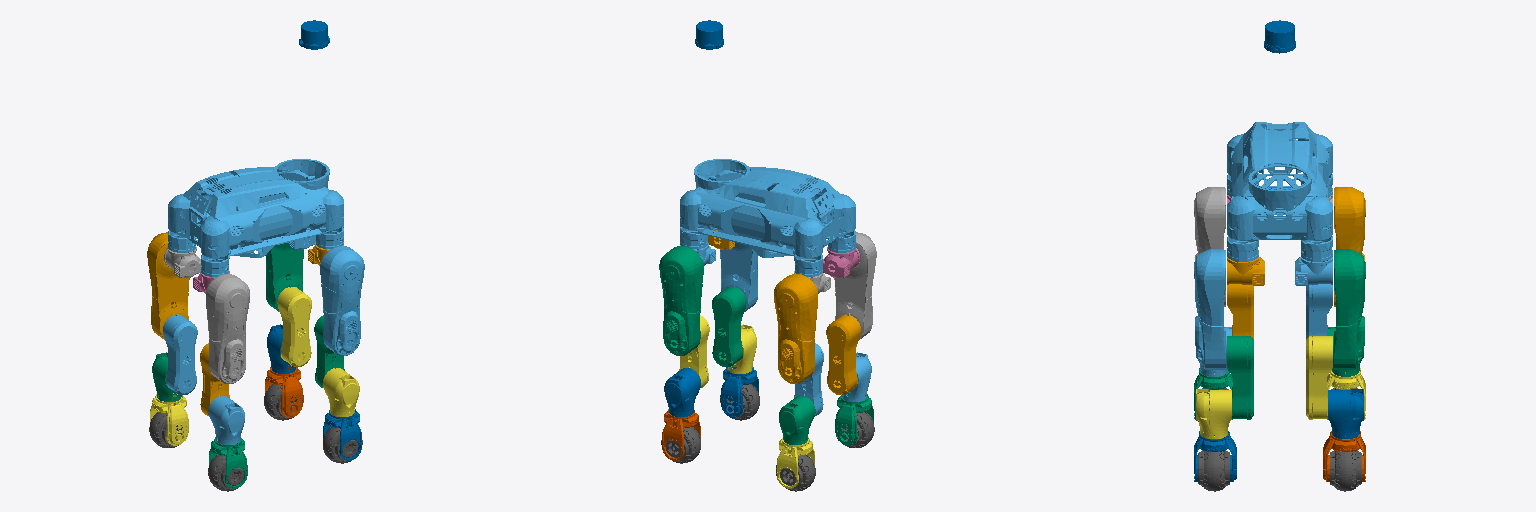
--- What the picture shows (computed from the rendered views, not written in the file) ---
The picture shows the robot from 3 angles, left to right: view 1: azimuth 30°, elevation 25°; view 2: azimuth 150°, elevation 25°; view 3: azimuth 270°, elevation 25°; orthographic projection.
Model centauro with 76 links and 75 joints (40 revolute, 5 continuous, 3 prismatic, 26 fixed, 1 floating), rooted at world, posed all joints at 0 but 2 set to mid-range because 0 is outside their limits (j_arm1_2 = 1.73, j_arm2_2 = -1.72).
Links seen in each view (by area): view 1: pelvis, hip2_4, hip2_2, hip2_3, knee_3, knee_1, hip2_1, ankle1_2, ankle1_4, ankle2_3, ankle2_1, ankle2_2 (+11 smaller); view 2: pelvis, hip2_3, hip2_1, hip2_4, knee_4, knee_2, hip2_2, ankle1_1, ankle1_3, ankle2_4, ankle2_2, ankle2_1 (+11 smaller); view 3: pelvis, hip2_1, hip2_2, knee_1, knee_2, hip2_3, hip2_4, ankle1_1, ankle1_2, knee_3, knee_4, wheel_1 (+8 smaller).
Link boxes in pixels (bbox=[...]): pelvis: bbox=[168, 159, 343, 276]; hip2_4: bbox=[206, 274, 249, 383]; hip2_2: bbox=[320, 246, 364, 355]; hip2_3: bbox=[147, 232, 189, 339]; knee_3: bbox=[163, 314, 197, 394]; knee_1: bbox=[277, 287, 311, 367]; hip2_1: bbox=[266, 243, 303, 311]; ankle1_2: bbox=[323, 368, 359, 416]; ankle1_4: bbox=[208, 396, 244, 444]; ankle2_3: bbox=[150, 393, 188, 445]; ankle2_1: bbox=[265, 365, 302, 417]; ankle2_2: bbox=[323, 409, 361, 460]; pelvis: bbox=[680, 159, 855, 276]; hip2_3: bbox=[774, 274, 817, 383]; hip2_1: bbox=[659, 246, 703, 355]; hip2_4: bbox=[834, 232, 876, 339]; knee_4: bbox=[826, 314, 860, 394]; knee_2: bbox=[712, 287, 746, 367]; hip2_2: bbox=[720, 243, 757, 311]; ankle1_1: bbox=[664, 368, 700, 416]; ankle1_3: bbox=[779, 396, 815, 444]; ankle2_4: bbox=[835, 393, 873, 445]; ankle2_2: bbox=[721, 365, 758, 417]; ankle2_1: bbox=[662, 409, 700, 460]; pelvis: bbox=[1227, 122, 1332, 261]; hip2_1: bbox=[1334, 249, 1365, 369]; hip2_2: bbox=[1194, 249, 1225, 369]; knee_1: bbox=[1306, 336, 1332, 419]; knee_2: bbox=[1227, 336, 1253, 419]; hip2_3: bbox=[1334, 187, 1365, 306]; hip2_4: bbox=[1194, 187, 1225, 306]; ankle1_1: bbox=[1328, 389, 1363, 438]; ankle1_2: bbox=[1196, 389, 1231, 438]; knee_3: bbox=[1306, 284, 1332, 338]; knee_4: bbox=[1227, 284, 1253, 338]; wheel_1: bbox=[1330, 450, 1361, 491].
Bounding box of the posed robot: 0.6554 × 0.5808 × 1.73 m (x, y, z).
26 mesh visuals loaded from 23 distinct referenced files (8 binary STL); not drawn: 23 (reference not matched to a file when rendering).

robot.urdf — centauro:
<?xml version="1.0" encoding="utf-8"?>
<!-- =================================================================================== -->
<!-- |    This document was autogenerated by xacro from centauro_robot.urdf.xacro      | -->
<!-- |    EDITING THIS FILE BY HAND IS NOT RECOMMENDED                                 | -->
<!-- =================================================================================== -->
<robot name="centauro">
  <!-- 
  ROS urdf definition of the CENTAURO humanoid robot by Istituto Italiano di Tecnologia
  
  Author: Enrico Mingo Hoffman
-->
  <!-- scaling facto for available peack torque link side, from 0 to 1 -->
  <material name="black">
    <color rgba="0.4 0.4 0.4 1"/>
  </material>
  <material name="dark">
    <color rgba="0.1 0.1 0.1 1"/>
  </material>
  <!-- TODO CHECK THIS VALUE -->
  <!-- ??? -->
  <!-- ??? -->
  <!-- Origin -->
  <!-- <xacro:property name="hip_yaw_lower" value="${[-2.827,-2.583, -2.583 ,-2.827]}"/>
<xacro:property name="hip_yaw_upper" value="${[ 2.583, 2.827,  2.827 , 2.583]}"/> -->
  <link name="base_link"/>
  <link name="pelvis">
    <inertial>
      <origin xyz="-0.0016320207 0.0026534004 0.079167428"/>
      <mass value="26.584529"/>
      <inertia ixx="0.39195477" ixy="0.024781259" ixz="0.017108607" iyy="1.0000709" iyz="0.0052627106" izz="1.0679989"/>
    </inertial>
    <visual>
      <origin rpy="0.0 0.0 0.0" xyz="0.0 0 0.0"/>
      <geometry>
        <mesh filename="package://centauro_urdf/meshes/v2/pelvis.stl" scale="0.001 0.001 0.001"/>
      </geometry>
    </visual>
    <collision>
      <origin rpy="0.0 0.0 0.0" xyz="0.0 0 0.0"/>
      <geometry>
        <mesh filename="package://centauro_urdf/meshes/simple/pelvis.stl" scale="0.001 0.001 0.001"/>
      </geometry>
    </collision>
  </link>
  <link name="imu_link"/>
  <joint name="imu_joint" type="fixed">
    <parent link="pelvis"/>
    <origin rpy="0.0 0.0 0.0" xyz="0.248316 0.0 0.015"/>
    <child link="imu_link"/>
  </joint>
  <joint name="base_joint" type="fixed">
    <parent link="pelvis"/>
    <child link="base_link"/>
    <origin rpy="0 0 0" xyz="0 0 0"/>
  </joint>
  <!-- torso links -->
  <link name="torso_2">
    <inertial>
      <origin xyz="-0.019497794 0.0045317835 0.13768283"/>
      <mass value="12.553731"/>
      <inertia ixx="0.063643392" ixy="8.939e-05" ixz="-0.00086873" iyy="0.02680235" iyz="-4.657e-05" izz="0.04743015"/>
    </inertial>
    <visual>
      <origin rpy="0.0 0.0 0.0" xyz="0.0 0 0.0"/>
      <geometry>
        <mesh filename="package://centauro_urdf/meshes/link1.stl" scale="0.001 0.001 0.001"/>
      </geometry>
    </visual>
    <collision>
      <origin rpy="0.0 0.0 0.0" xyz="0.0 0 0.0"/>
      <geometry>
        <mesh filename="package://centauro_urdf/meshes/simple/link1.stl" scale="0.001 0.001 0.001"/>
      </geometry>
    </collision>
  </link>
  <!-- /torso links -->
  <!-- torso joints -->
  <joint name="torso_yaw" type="revolute">
    <parent link="pelvis"/>
    <origin xyz="0.2 0.0 0.256"/>
    <child link="torso_2"/>
    <axis xyz="0 0 1"/>
    <limit effort="147" lower="-2.618" upper="2.618" velocity="5.7"/>
    <!-- TODO -->
  </joint>
  <!-- /torso joints -->
  <!-- /macro arms -->
  <!-- LINKS -->
  <!-- shoulder yaw-roll-->
  <link name="arm1_1">
    <inertial>
      <origin xyz="-0.0074457212 0.03410796 0.00010978102"/>
      <mass value="1.9628675"/>
      <inertia ixx="0.0053547717" ixy="0.00036428926" ixz="1.5089568e-05" iyy="0.0033923328" iyz="5.5692312e-05" izz="0.0068921413"/>
    </inertial>
    <visual>
      <origin rpy="0.0 0.0 0.0" xyz="0.0 0.0 0.0"/>
      <geometry>
        <mesh filename="package://centauro_urdf/meshes/ShoulderPitch.STL" scale="0.001 -0.001 0.001"/>
      </geometry>
      <material name="dark_grey"/>
    </visual>
    <collision>
      <origin rpy="0.0 0.0 0.0" xyz="0.0 0.0 0.0"/>
      <geometry>
        <mesh filename="package://centauro_urdf/meshes/simple/ShoulderPitch.STL" scale="0.001 -0.001 0.001"/>
      </geometry>
    </collision>
  </link>
  <!-- shoulder yaw-roll-->
  <!-- shoulder roll-pitch-->
  <link name="arm1_2">
    <inertial>
      <origin xyz="0.058142302 5.7450803e-05 -0.077477683"/>
      <mass value="1.8595811"/>
      <inertia ixx="0.013776643" ixy="3.7788675e-05" ixz="0.0037690171" iyy="0.015677464" iyz="-9.4893549e-06" izz="0.0046317657"/>
    </inertial>
    <visual>
      <origin rpy="0.0 0.0 0.0" xyz="0.0 0.0 0.0"/>
      <geometry>
        <mesh filename="package://centauro_urdf/meshes/ShoulderRoll.STL" scale="0.001 -0.001 0.001"/>
      </geometry>
    </visual>
    <collision>
      <origin rpy="0.0 0.0 0.0" xyz="0.0 0.0 0.0"/>
      <geometry>
        <mesh filename="package://centauro_urdf/meshes/simple/ShoulderRoll.STL" scale="0.001 -0.001 0.001"/>
      </geometry>
    </collision>
  </link>
  <!-- shoulder roll-pitch-->
  <!-- shoulder-elbow -->
  <link name="arm1_3">
    <inertial>
      <origin xyz="0.014625194 0.0008172672 -0.028333545"/>
      <mass value="1.6678109"/>
      <inertia ixx="0.0064480435" ixy="-0.00015639093" ixz="0.0012205359" iyy="0.0073372077" iyz="8.9941532e-05" izz="0.0036738448"/>
    </inertial>
    <visual>
      <origin rpy="0.0 0.0 0.0" xyz="0.0 0.0 0.0"/>
      <geometry>
        <mesh filename="package://centauro_urdf/meshes/ShoulderYaw.STL" scale="0.001 -0.001 0.001"/>
      </geometry>
      <material name="dark_grey"/>
    </visual>
    <collision>
      <origin rpy="0.0 0.0 0.0" xyz="0.0 0.0 0.0"/>
      <geometry>
        <mesh filename="package://centauro_urdf/meshes/simple/ShoulderYaw.STL" scale="0.001 -0.001 0.001"/>
      </geometry>
    </collision>
  </link>
  <!-- /shoulder-elbow -->
  <!-- elbow yaw-pitch -->
  <link name="arm1_4">
    <inertial>
      <origin xyz="-0.0076833067 -0.040302205 -0.043492779"/>
      <mass value="1.3157289"/>
      <inertia ixx="0.004330394" ixy="-0.00011737391" ixz="-0.00041923199" iyy="0.0038539919" iyz="-0.00079573038" izz="0.0017594689"/>
    </inertial>
    <visual>
      <origin rpy="0.0 0.0 0.0" xyz="0.0 0.0 0.0"/>
      <geometry>
        <mesh filename="package://centauro_urdf/meshes/Elbow.STL" scale="0.001 -0.001 0.001"/>
      </geometry>
    </visual>
    <collision>
      <origin rpy="0.0 0.0 0.0" xyz="0.0 0.0 0.0"/>
      <geometry>
        <mesh filename="package://centauro_urdf/meshes/simple/Elbow.STL" scale="0.001 -0.001 0.001"/>
      </geometry>
    </collision>
  </link>
  <!-- /elbow yaw-pitch -->
  <!-- elbow-wrist -->
  <link name="arm1_5">
    <inertial>
      <origin xyz="-0.00011079615 0.011590836 -0.07816026"/>
      <mass value="1.4908547"/>
      <inertia ixx="0.0085692128" ixy="1.7856252e-05" ixz="1.9379365e-05" iyy="0.0077454159" iyz="-0.00032860094" izz="0.0027441921"/>
    </inertial>
    <visual>
      <origin rpy="0.0 0.0 0.0" xyz="0.0 0.0 0.0"/>
      <geometry>
        <mesh filename="package://centauro_urdf/meshes/Forearm.STL" scale="0.001 -0.001 0.001"/>
      </geometry>
      <material name="dark_grey"/>
    </visual>
    <collision>
      <origin rpy="0.0 0.0 0.0" xyz="0.0 0.0 0.0"/>
      <geometry>
        <mesh filename="package://centauro_urdf/meshes/simple/Forearm.STL" scale="0.001 -0.001 0.001"/>
      </geometry>
    </collision>
  </link>
  <!-- /elbow-wrist -->
  <!-- wrist yaw-pitch -->
  <link name="arm1_6">
    <inertial>
      <origin xyz="-4.6502396e-06 -0.038014094 -0.069926878"/>
      <mass value="1.1263612"/>
      <inertia ixx="0.0051871784" ixy="2.724437e-05" ixz="2.2833496e-06" iyy="0.0048037789" iyz="-0.00072165653" izz="0.0012771388"/>
    </inertial>
    <visual>
      <origin rpy="0.0 0.0 0.0" xyz="0.0 0.0 0.0"/>
      <geometry>
        <mesh filename="package://centauro_urdf/meshes/ForearmPitch.STL" scale="0.001 -0.001 0.001"/>
      </geometry>
    </visual>
    <collision>
      <origin rpy="0.0 0.0 0.0" xyz="0.0 0.0 0.0"/>
      <geometry>
        <mesh filename="package://centauro_urdf/meshes/simple/ForearmPitch.STL" scale="0.001 -0.001 0.001"/>
      </geometry>
    </collision>
  </link>
  <!-- /wrist yaw-pitch -->
  <link name="arm1_7">
    <inertial>
      <origin xyz="0.0 0.0 0.03127057"/>
      <mass value="0.27966428"/>
      <inertia ixx="0.00014415192" ixy="9.8651826e-08" ixz="0" iyy="0.0001441701" iyz="0" izz="6.0500616e-05"/>
    </inertial>
    <visual>
      <origin rpy="0.0 0.0 0.0" xyz="0.0 0.0 0.0"/>
      <geometry>
        <mesh filename="package://centauro_urdf/meshes/ForearmYaw.STL" scale="0.001 -0.001 0.001"/>
      </geometry>
      <material name="dark_grey"/>
    </visual>
    <collision>
      <origin rpy="0.0 0.0 0.0" xyz="0.0 0.0 0.0"/>
      <geometry>
        <mesh filename="package://centauro_urdf/meshes/simple/ForearmYaw.STL" scale="0.001 -0.001 0.001"/>
      </geometry>
    </collision>
  </link>
  <!-- /LINKS -->
  <!-- JOINTS -->
  <!-- shoulder yaw -->
  <joint name="j_arm1_1" type="revolute">
    <parent link="torso_2"/>
    <child link="arm1_1"/>
    <origin rpy="0.174533 0.0 -0.5235988" xyz="0.0457475 0.169137 0.116626"/>
    <axis xyz="0 1 0"/>
    <limit effort="147.0" lower="-3.312" upper="1.615" velocity="3.86"/>
  </joint>
  <!-- /shoulder yaw -->
  <!-- shoulder roll -->
  <joint name="j_arm1_2" type="revolute">
    <parent link="arm1_1"/>
    <child link="arm1_2"/>
    <origin rpy="-0.1745327 0.0 0.0" xyz="-0.09015 0.062 0.0"/>
    <axis xyz="1 0 0"/>
    <limit effort="147.0" lower="0.02" upper="3.431" velocity="3.86"/>
  </joint>
  <!-- /shoulder roll -->
  <!-- shoulder pitch-->
  <joint name="j_arm1_3" type="revolute">
    <parent link="arm1_2"/>
    <child link="arm1_3"/>
    <origin xyz="0.09015 0.0 -0.21815"/>
    <axis xyz="0 0 1"/>
    <limit effort="147.0" lower="-2.552" upper="2.566" velocity="6.06"/>
  </joint>
  <!-- /shoulder pitch -->
  <!-- elbow yaw -->
  <joint name="j_arm1_4" type="revolute">
    <parent link="arm1_3"/>
    <child link="arm1_4"/>
    <origin xyz="0.045 0.05515 -0.074"/>
    <axis xyz="0 1 0"/>
    <limit effort="147.0" lower="-2.465" upper="0.28" velocity="6.06"/>
  </joint>
  <!-- /elbow yaw -->
  <!-- elbow pitch-->
  <joint name="j_arm1_5" type="revolute">
    <parent link="arm1_4"/>
    <child link="arm1_5"/>
    <origin xyz="-0.015 -0.05515 -0.095"/>
    <axis xyz="0 0 1"/>
    <limit effort="55.0" lower="-2.569" upper="2.562" velocity="11.72"/>
  </joint>
  <!-- /elbow pitch-->
  <!-- wrist yaw-->
  <joint name="j_arm1_6" type="revolute">
    <parent link="arm1_5"/>
    <child link="arm1_6"/>
    <origin xyz="0.0 0.049 -0.156"/>
    <axis xyz="0 1 0"/>
    <limit effort="55.0" lower="-1.529" upper="1.509" velocity="11.72"/>
  </joint>
  <!-- /wrist yaw-->
  <!-- wrist pitch-->
  <joint name="j_arm1_7" type="revolute">
    <parent link="arm1_6"/>
    <child link="arm1_7"/>
    <origin xyz="0.0 -0.049 -0.174"/>
    <axis xyz="0 0 1"/>
    <limit effort="28.32" lower="-2.565" upper="2.569" velocity="20.35"/>
  </joint>
  <!-- wrist pitch-->
  <!-- force-troque sensor -->
  <!-- end-effector -->
  <!-- wrist pitch-->
  <joint name="j_ft_1" type="fixed">
    <parent link="arm1_7"/>
    <child link="ft_arm1"/>
    <origin rpy="0.0 0.0 0.0" xyz="0.0 0.0 -0.0"/>
    <axis xyz="0 0 1"/>
    <limit effort="0" lower="0.0" upper="0.0" velocity="0"/>
  </joint>
  <!-- wrist pitch-->
  <link name="ft_arm1">
    <inertial>
      <origin xyz="8.2161929e-05 0.0026334189 -0.016465877"/>
      <mass value="0.37827821"/>
      <inertia ixx="0.00023321716" ixy="2.3681435e-06" ixz="-1.8039102e-06" iyy="0.00020626291" iyz="3.158829e-05" izz="0.00027399881"/>
    </inertial>
    <!--visual>
         <origin xyz="0.0 0.0 0.0"  rpy="${PI} 0.0 0.0"/>
   <geometry>
      <mesh filename="package://centauro_urdf/meshes/Wrist.STL" scale="0.001 ${-rot*0.001} 0.001" />
   </geometry>
      </visual-->
    <!--collision>
         <origin xyz="0.0 0.0 0.0"  rpy="${PI} 0.0 0.0"/>
   <geometry>
      <mesh filename="package://centauro_urdf/meshes/simple/Wrist.STL" scale="0.001 ${-rot*0.001} 0.001" />
   </geometry>
      </collision-->
  </link>
  <!-- LINKS -->
  <!-- shoulder yaw-roll-->
  <link name="arm2_1">
    <inertial>
      <origin xyz="-0.0074457212 -0.03410796 0.00010978102"/>
      <mass value="1.9628675"/>
      <inertia ixx="0.0053547717" ixy="-0.00036428926" ixz="1.5089568e-05" iyy="0.0033923328" iyz="-5.5692312e-05" izz="0.0068921413"/>
    </inertial>
    <visual>
      <origin rpy="0.0 0.0 0.0" xyz="0.0 0.0 0.0"/>
      <geometry>
        <mesh filename="package://centauro_urdf/meshes/ShoulderPitch.STL" scale="0.001 0.001 0.001"/>
      </geometry>
      <material name="dark_grey"/>
    </visual>
    <collision>
      <origin rpy="0.0 0.0 0.0" xyz="0.0 0.0 0.0"/>
      <geometry>
        <mesh filename="package://centauro_urdf/meshes/simple/ShoulderPitch.STL" scale="0.001 0.001 0.001"/>
      </geometry>
    </collision>
  </link>
  <!-- shoulder yaw-roll-->
  <!-- shoulder roll-pitch-->
  <link name="arm2_2">
    <inertial>
      <origin xyz="0.058142302 -5.7450803e-05 -0.077477683"/>
      <mass value="1.8595811"/>
      <inertia ixx="0.013776643" ixy="-3.7788675e-05" ixz="0.0037690171" iyy="0.015677464" iyz="9.4893549e-06" izz="0.0046317657"/>
    </inertial>
    <visual>
      <origin rpy="0.0 0.0 0.0" xyz="0.0 0.0 0.0"/>
      <geometry>
        <mesh filename="package://centauro_urdf/meshes/ShoulderRoll.STL" scale="0.001 0.001 0.001"/>
      </geometry>
    </visual>
    <collision>
      <origin rpy="0.0 0.0 0.0" xyz="0.0 0.0 0.0"/>
      <geometry>
        <mesh filename="package://centauro_urdf/meshes/simple/ShoulderRoll.STL" scale="0.001 0.001 0.001"/>
      </geometry>
    </collision>
  </link>
  <!-- shoulder roll-pitch-->
  <!-- shoulder-elbow -->
  <link name="arm2_3">
    <inertial>
      <origin xyz="0.014625194 -0.0008172672 -0.028333545"/>
      <mass value="1.6678109"/>
      <inertia ixx="0.0064480435" ixy="0.00015639093" ixz="0.0012205359" iyy="0.0073372077" iyz="-8.9941532e-05" izz="0.0036738448"/>
    </inertial>
    <visual>
      <origin rpy="0.0 0.0 0.0" xyz="0.0 0.0 0.0"/>
      <geometry>
        <mesh filename="package://centauro_urdf/meshes/ShoulderYaw.STL" scale="0.001 0.001 0.001"/>
      </geometry>
      <material name="dark_grey"/>
    </visual>
    <collision>
      <origin rpy="0.0 0.0 0.0" xyz="0.0 0.0 0.0"/>
      <geometry>
        <mesh filename="package://centauro_urdf/meshes/simple/ShoulderYaw.STL" scale="0.001 0.001 0.001"/>
      </geometry>
    </collision>
  </link>
  <!-- /shoulder-elbow -->
  <!-- elbow yaw-pitch -->
  <link name="arm2_4">
    <inertial>
      <origin xyz="-0.0076833067 0.040302205 -0.043492779"/>
      <mass value="1.3157289"/>
      <inertia ixx="0.004330394" ixy="0.00011737391" ixz="-0.00041923199" iyy="0.0038539919" iyz="0.00079573038" izz="0.0017594689"/>
    </inertial>
    <visual>
      <origin rpy="0.0 0.0 0.0" xyz="0.0 0.0 0.0"/>
      <geometry>
        <mesh filename="package://centauro_urdf/meshes/Elbow.STL" scale="0.001 0.001 0.001"/>
      </geometry>
    </visual>
    <collision>
      <origin rpy="0.0 0.0 0.0" xyz="0.0 0.0 0.0"/>
      <geometry>
        <mesh filename="package://centauro_urdf/meshes/simple/Elbow.STL" scale="0.001 0.001 0.001"/>
      </geometry>
    </collision>
  </link>
  <!-- /elbow yaw-pitch -->
  <!-- elbow-wrist -->
  <link name="arm2_5">
    <inertial>
      <origin xyz="-0.00011079615 -0.011590836 -0.07816026"/>
      <mass value="1.4908547"/>
      <inertia ixx="0.0085692128" ixy="-1.7856252e-05" ixz="1.9379365e-05" iyy="0.0077454159" iyz="0.00032860094" izz="0.0027441921"/>
    </inertial>
    <visual>
      <origin rpy="0.0 0.0 0.0" xyz="0.0 0.0 0.0"/>
      <geometry>
        <mesh filename="package://centauro_urdf/meshes/Forearm.STL" scale="0.001 0.001 0.001"/>
      </geometry>
      <material name="dark_grey"/>
    </visual>
    <collision>
      <origin rpy="0.0 0.0 0.0" xyz="0.0 0.0 0.0"/>
      <geometry>
        <mesh filename="package://centauro_urdf/meshes/simple/Forearm.STL" scale="0.001 0.001 0.001"/>
      </geometry>
    </collision>
  </link>
  <!-- /elbow-wrist -->
  <!-- wrist yaw-pitch -->
  <link name="arm2_6">
    <inertial>
      <origin xyz="-4.6502396e-06 0.038014094 -0.069926878"/>
      <mass value="1.1263612"/>
      <inertia ixx="0.0051871784" ixy="-2.724437e-05" ixz="2.2833496e-06" iyy="0.0048037789" iyz="0.00072165653" izz="0.0012771388"/>
    </inertial>
    <visual>
      <origin rpy="0.0 0.0 0.0" xyz="0.0 0.0 0.0"/>
      <geometry>
        <mesh filename="package://centauro_urdf/meshes/ForearmPitch.STL" scale="0.001 0.001 0.001"/>
      </geometry>
    </visual>
    <collision>
      <origin rpy="0.0 0.0 0.0" xyz="0.0 0.0 0.0"/>
      <geometry>
        <mesh filename="package://centauro_urdf/meshes/simple/ForearmPitch.STL" scale="0.001 0.001 0.001"/>
      </geometry>
    </collision>
  </link>
  <!-- /wrist yaw-pitch -->
  <link name="arm2_7">
    <inertial>
      <origin xyz="0.0 -0.0 0.03127057"/>
      <mass value="0.27966428"/>
      <inertia ixx="0.00014415192" ixy="-9.8651826e-08" ixz="0" iyy="0.0001441701" iyz="0" izz="6.0500616e-05"/>
    </inertial>
    <visual>
      <origin rpy="0.0 0.0 0.0" xyz="0.0 0.0 0.0"/>
      <geometry>
        <mesh filename="package://centauro_urdf/meshes/ForearmYaw.STL" scale="0.001 0.001 0.001"/>
      </geometry>
      <material name="dark_grey"/>
    </visual>
    <collision>
      <origin rpy="0.0 0.0 0.0" xyz="0.0 0.0 0.0"/>
      <geometry>
        <mesh filename="package://centauro_urdf/meshes/simple/ForearmYaw.STL" scale="0.001 0.001 0.001"/>
      </geometry>
    </collision>
  </link>
  <!-- /LINKS -->
  <!-- JOINTS -->
  <!-- shoulder yaw -->
  <joint name="j_arm2_1" type="revolute">
    <parent link="torso_2"/>
    <child link="arm2_1"/>
    <origin rpy="-0.174533 0.0 0.5235988" xyz="0.0457475 -0.169137 0.116626"/>
    <axis xyz="0 1 0"/>
    <limit effort="147.0" lower="-3.3458" upper="1.6012" velocity="3.86"/>
  </joint>
  <!-- /shoulder yaw -->
  <!-- shoulder roll -->
  <joint name="j_arm2_2" type="revolute">
    <parent link="arm2_1"/>
    <child link="arm2_2"/>
    <origin rpy="0.1745327 0.0 0.0" xyz="-0.09015 -0.062 0.0"/>
    <axis xyz="1 0 0"/>
    <limit effort="147.0" lower="-3.4258" upper="-0.0138" velocity="3.86"/>
  </joint>
  <!-- /shoulder roll -->
  <!-- shoulder pitch-->
  <joint name="j_arm2_3" type="revolute">
    <parent link="arm2_2"/>
    <child link="arm2_3"/>
    <origin xyz="0.09015 0.0 -0.21815"/>
    <axis xyz="0 0 1"/>
    <limit effort="147.0" lower="-2.5614" upper="2.5606" velocity="6.06"/>
  </joint>
  <!-- /shoulder pitch -->
  <!-- elbow yaw -->
  <joint name="j_arm2_4" type="revolute">
    <parent link="arm2_3"/>
    <child link="arm2_4"/>
    <origin xyz="0.045 -0.05515 -0.074"/>
    <axis xyz="0 1 0"/>
    <limit effort="147.0" lower="-2.4794" upper="0.2886" velocity="6.06"/>
  </joint>
  <!-- /elbow yaw -->
  <!-- elbow pitch-->
  <joint name="j_arm2_5" type="revolute">
    <parent link="arm2_4"/>
    <child link="arm2_5"/>
    <origin xyz="-0.015 0.05515 -0.095"/>
    <axis xyz="0 0 1"/>
    <limit effort="55.0" lower="-2.5394" upper="2.5546" velocity="11.72"/>
  </joint>
  <!-- /elbow pitch-->
  <!-- wrist yaw-->
  <joint name="j_arm2_6" type="revolute">
    <parent link="arm2_5"/>
    <child link="arm2_6"/>
    <origin xyz="0.0 -0.049 -0.156"/>
    <axis xyz="0 1 0"/>
    <limit effort="55.0" lower="-1.5154" upper="1.5156" velocity="11.72"/>
  </joint>
  <!-- /wrist yaw-->
  <!-- wrist pitch-->
  <joint name="j_arm2_7" type="revolute">
    <parent link="arm2_6"/>
    <child link="arm2_7"/>
    <origin xyz="0.0 0.049 -0.174"/>
    <axis xyz="0 0 1"/>
    <limit effort="28.32" lower="-2.5554" upper="2.5686" velocity="20.35"/>
  </joint>
  <!-- wrist pitch-->
  <!-- force-troque sensor -->
  <!-- end-effector -->
  <!-- wrist pitch-->
  <joint name="j_ft_2" type="fixed">
    <parent link="arm2_7"/>
    <child link="ft_arm2"/>
    <origin rpy="0.0 0.0 0.0" xyz="0.0 0.0 -0.0"/>
    <axis xyz="0 0 1"/>
    <limit effort="0" lower="0.0" upper="0.0" velocity="0"/>
  </joint>
  <!-- wrist pitch-->
  <link name="ft_arm2">
    <inertial>
      <origin xyz="8.2161929e-05 -0.0026334189 -0.016465877"/>
      <mass value="0.37827821"/>
      <inertia ixx="0.00023321716" ixy="-2.3681435e-06" ixz="-1.8039102e-06" iyy="0.00020626291" iyz="-3.158829e-05" izz="0.00027399881"/>
    </inertial>
    <!--visual>
         <origin xyz="0.0 0.0 0.0"  rpy="${PI} 0.0 0.0"/>
   <geometry>
      <mesh filename="package://centauro_urdf/meshes/Wrist.STL" scale="0.001 ${-rot*0.001} 0.001" />
   </geometry>
      </visual-->
    <!--collision>
         <origin xyz="0.0 0.0 0.0"  rpy="${PI} 0.0 0.0"/>
   <geometry>
      <mesh filename="package://centauro_urdf/meshes/simple/Wrist.STL" scale="0.001 ${-rot*0.001} 0.001" />
   </geometry>
      </collision-->
  </link>
  <link name="ball1">
    <inertial>
      <origin rpy="0 0 0" xyz="-1.0072498e-05 3.7590658e-05 0.019772332"/>
      <mass value="1.27"/>
      <inertia ixx="0.0023061092" ixy="2.9181758e-07" ixz="-2.1246684e-07" iyy="0.0023053155" iyz="7.9290978e-07" izz="0.0030675616"/>
    </inertial>
    <visual>
      <origin rpy="0.0 0.0 0.0" xyz="0.0 0.0 0.0"/>
      <geometry name="ball1_visual">
        <mesh filename="package://centauro_urdf/meshes/BallHand.stl" scale="0.001 0.001 0.001"/>
      </geometry>
      <material name="grey"/>
    </visual>
    <collision>
      <origin rpy="0.0 0.0 0.0" xyz="0.0 0.0 0.0"/>
      <geometry name="ball1_collision">
        <mesh filename="package://centauro_urdf/meshes/simple/BallHand.stl" scale="0.001 0.001 0.001"/>
      </geometry>
    </collision>
  </link>
  <link name="ball1_tip"/>
  <joint name="j_arm1_8" type="fixed">
    <parent link="arm1_7"/>
    <child link="ball1"/>
    <origin rpy="0. 0. 0." xyz="0. 0. 0."/>
  </joint>
  <joint name="j_ball1_tip" type="fixed">
    <parent link="ball1"/>
    <child link="ball1_tip"/>
    <origin rpy="0 0 0" xyz="0 0 -0.07"/>
  </joint>
  <!-- add armX_8 link for legacy reasons (same as ballX) -->
  <joint name="j_ball1_fixed" type="fixed">
    <parent link="ball1"/>
    <child link="arm1_8"/>
  </joint>
  <link name="arm1_8">
    <inertial>
      <mass value="0"/>
      <inertia ixx="0" ixy="0" ixz="0" iyy="0" iyz="0" izz="0"/>
    </inertial>
  </link>
  <link name="ball2">
    <inertial>
      <origin rpy="0 0 0" xyz="-1.0072498e-05 3.7590658e-05 0.019772332"/>
      <mass value="1.27"/>
      <inertia ixx="0.0023061092" ixy="2.9181758e-07" ixz="-2.1246684e-07" iyy="0.0023053155" iyz="7.9290978e-07" izz="0.0030675616"/>
    </inertial>
    <visual>
      <origin rpy="0.0 0.0 0.0" xyz="0.0 0.0 0.0"/>
      <geometry name="ball2_visual">
        <mesh filename="package://centauro_urdf/meshes/BallHand.stl" scale="0.001 0.001 0.001"/>
      </geometry>
      <material name="grey"/>
    </visual>
    <collision>
      <origin rpy="0.0 0.0 0.0" xyz="0.0 0.0 0.0"/>
      <geometry name="ball2_collision">
        <mesh filename="package://centauro_urdf/meshes/simple/BallHand.stl" scale="0.001 0.001 0.001"/>
      </geometry>
    </collision>
  </link>
  <link name="ball2_tip"/>
  <joint name="j_arm2_8" type="fixed">
    <parent link="arm2_7"/>
    <child link="ball2"/>
    <origin rpy="0. 0. 0." xyz="0. 0. 0."/>
  </joint>
  <joint name="j_ball2_tip" type="fixed">
    <parent link="ball2"/>
    <child link="ball2_tip"/>
    <origin rpy="0 0 0" xyz="0 0 -0.07"/>
  </joint>
  <!-- add armX_8 link for legacy reasons (same as ballX) -->
  <joint name="j_ball2_fixed" type="fixed">
    <parent link="ball2"/>
    <child link="arm2_8"/>
  </joint>
  <link name="arm2_8">
    <inertial>
      <mass value="0"/>
      <inertia ixx="0" ixy="0" ixz="0" iyy="0" iyz="0" izz="0"/>
    </inertial>
  </link>
  <!-- LINKS -->
  <!-- TODO: FINISH IMPLEMENTATION WITH CORRECT NUMBERS -->
  <link name="neck_1">
    <inertial>
      <origin xyz="0.040479674 0.021377573 -0.014595112"/>
      <mass value="0.33878686"/>
      <inertia ixx="0.0003718568" ixy="-9.42983e-05" ixz="-2.80644e-05" iyy="0.0001886879" iyz="-1.54534e-05" izz="0.0005023443"/>
    </inertial>
    <visual>
      <origin rpy="0.0 0.0 0.0" xyz="0.0 0 0.0"/>
      <geometry>
        <mesh filename="package://centauro_urdf/meshes/neck_yaw.stl" scale="0.001 0.001 0.001"/>
      </geometry>
    </visual>
    <collision>
      <origin rpy="0.0 0.0 0.0" xyz="0.0 0 0.0"/>
      <geometry>
        <mesh filename="package://centauro_urdf/meshes/simple/neck_yaw.stl" scale="0.001 0.001 0.001"/>
      </geometry>
    </collision>
  </link>
  <link name="neck_2">
    <inertial>
      <origin xyz="0.048466918 -0.059852318 -0.0085314894"/>
      <mass value="0.78526942"/>
      <inertia ixx="0.0004682345" ixy="-1.05438e-05" ixz="7.24398e-05" iyy="0.0002635246" iyz="1.6904e-06" izz="0.0003763351"/>
    </inertial>
    <visual>
      <origin rpy="0.0 0.0 0.0" xyz="0.0 0 0.0"/>
      <geometry>
        <mesh filename="package://centauro_urdf/meshes/neck_pitch.stl" scale="0.001 0.001 0.001"/>
      </geometry>
    </visual>
    <collision>
      <origin rpy="0.0 0.0 0.0" xyz="0.0 0 0.0"/>
      <geometry>
        <mesh filename="package://centauro_urdf/meshes/simple/neck_pitch.stl" scale="0.001 0.001 0.001"/>
      </geometry>
    </collision>
  </link>
  <!-- LINKS -->
  <link name="neck_3">
    <inertial>
      <origin xyz="0.048466918 -0.059852318 -0.0085314894"/>
      <mass value="0.78526942"/>
      <inertia ixx="0.0004682345" ixy="-1.05438e-05" ixz="7.24398e-05" iyy="0.0002635246" iyz="1.6904e-06" izz="0.0003763351"/>
    </inertial>
    <visual>
      <origin rpy="0.0 0.0 0.0" xyz="0.0 0 0.0"/>
      <geometry>
        <mesh filename="package://centauro_urdf/meshes/lidar.stl" scale="0.001 0.001 0.001"/>
      </geometry>
    </visual>
    <collision>
      <origin rpy="0.0 0.0 0.0" xyz="0.0 0 0.0"/>
      <geometry>
        <mesh filename="package://centauro_urdf/meshes/simple/lidar.stl" scale="0.001 0.001 0.001"/>
      </geometry>
    </collision>
  </link>
  <!--JOINTS -->
  <joint name="neck_yaw" type="revolute">
    <parent link="torso_2"/>
    <origin xyz="0.0 0.0 0.2795"/>
    <child link="neck_1"/>
    <axis xyz="0 0 1"/>
    <limit effort="35" lower="-0.78539816" upper="0.78539816" velocity="5.7"/>
    <dynamics friction="10.0"/>
  </joint>
  <joint name="neck_pitch" type="revolute">
    <parent link="neck_1"/>
    <origin xyz="0.054 0.0596 -0.0124975"/>
    <child link="neck_2"/>
    <axis xyz="0 1 0"/>
    <limit effort="35" lower="-0.34906585" upper="0.78539816" velocity="5.7"/>
    <dynamics friction="10.0"/>
  </joint>
  <joint name="neck_velodyne" type="continuous">
    <parent link="torso_2"/>
    <origin rpy="0 0 -1.828" xyz="0.055 0.0 0.473262"/>
    <!--origin xyz="0.055 0.0 0.473262" rpy="0 0 -1.311481"/-->
    <child link="neck_3"/>
    <axis xyz="0 0 1"/>
    <limit effort="35" velocity="5.7"/>
    <dynamics damping="0.2" friction="10.0"/>
  </joint>
  <joint name="velodyne_calib_base_mount_joint" type="fixed">
    <origin rpy="0 1.5709 -0.316519  " xyz="0.032768 -0.01 0.048219"/>
    <parent link="neck_3"/>
    <child link="velodyne_calib_base_link"/>
  </joint>
  <link name="velodyne_calib_base_link">
    <inertial>
      <mass value="0.83"/>
      <origin xyz="0 0 0.03585"/>
      <inertia ixx="0.000908059425" ixy="0" ixz="0" iyy="0.000908059425" iyz="0" izz="0.0011049624"/>
    </inertial>
    <visual>
      <geometry>
        <mesh filename="package://velodyne_description/meshes/VLP16_base_1.dae"/>
      </geometry>
    </visual>
    <visual>
      <geometry>
        <mesh filename="package://velodyne_description/meshes/VLP16_base_2.dae"/>
      </geometry>
    </visual>
    <collision>
      <origin rpy="0 0 0" xyz="0 0 0.03585"/>
      <geometry>
        <cylinder length="0.0717" radius="0.0516"/>
      </geometry>
    </collision>
  </link>
  <joint name="velodyne_calib_base_scan_joint" type="fixed">
    <origin rpy="0 0 0" xyz="0 0 0.0377"/>
    <parent link="velodyne_calib_base_link"/>
    <child link="velodyne_calib"/>
  </joint>
  <link name="velodyne_calib">
    <inertial>
      <mass value="0.01"/>
      <origin xyz="0 0 0"/>
      <inertia ixx="1e-7" ixy="0" ixz="0" iyy="1e-7" iyz="0" izz="1e-7"/>
    </inertial>
    <visual>
      <origin xyz="0 0 -0.0377"/>
      <geometry>
        <mesh filename="package://velodyne_description/meshes/VLP16_scan.dae"/>
      </geometry>
    </visual>
  </link>
  <!-- Gazebo requires the velodyne_gazebo_plugins package -->
  <gazebo reference="velodyne_calib">
    <sensor name="velodyne_calib-VLP16" type="ray">
      <pose>0 0 0 0 0 0</pose>
      <visualize>false</visualize>
      <update_rate>10</update_rate>
      <ray>
        <scan>
          <horizontal>
            <samples>440</samples>
            <resolution>1</resolution>
            <min_angle>-3.14159265359</min_angle>
            <max_angle>3.14159265359</max_angle>
          </horizontal>
          <vertical>
            <samples>16</samples>
            <resolution>1</resolution>
            <min_angle>-0.261799387799</min_angle>
            <max_angle> 0.261799387799</max_angle>
          </vertical>
        </scan>
        <range>
          <min>0.3</min>
          <max>131.0</max>
          <resolution>0.001</resolution>
        </range>
        <noise>
          <type>gaussian</type>
          <mean>0.0</mean>
          <stddev>0.0</stddev>
        </noise>
      </ray>
      <plugin filename="libgazebo_ros_velodyne_laser.so" name="gazebo_ros_laser_controller">
        <topicName>/velodyne_points</topicName>
        <frameName>velodyne_calib</frameName>
        <min_range>0.9</min_range>
        <max_range>130.0</max_range>
        <gaussianNoise>0.008</gaussianNoise>
      </plugin>
    </sensor>
  </gazebo>
  <!-- unite_imu_method can be false, copy or linear_interpolation -->
  <!--<xacro:sensor_t265  parent="torso_2" name="T265_camera" topics_ns="T265_camera"
                      xyz="0.125 0.0 0" rpy="0.0 0.25 0.0"
                      unite_imu_method="false"> 
            <origin xyz="0.125 0.0 0" rpy="0.0 0.25 0.0"/>  
        </xacro:sensor_t265>-->
  <material name="T265_camera_aluminum">
    <color rgba="0.5 0.5 0.5 1"/>
  </material>
  <!-- camera body, with origin at camera_pose_frame -->
  <joint name="T265_camera_pose_joint" type="fixed">
    <origin rpy="0.0 0.2617993 0.0" xyz="0.252619 0.00775 -0.0206926"/>
    <parent link="pelvis"/>
    <child link="T265_camera_pose_frame"/>
  </joint>
  <link name="T265_camera_pose_frame">
    <visual>
      <origin rpy="1.57079632679 0 1.57079632679" xyz="0 0 0"/>
      <geometry>
        <mesh filename="package://realsense_gazebo_description/meshes/t265_full.stl" scale="0.001 0.001 0.001"/>
      </geometry>
      <material name="T265_camera_aluminum"/>
    </visual>
    <collision>
      <origin rpy="1.57079632679 0 1.57079632679" xyz="0 0 0"/>
      <geometry>
        <mesh filename="package://realsense_gazebo_description/meshes/t265_simplified.stl" scale="0.001 0.001 0.001"/>
      </geometry>
    </collision>
    <inertial>
      <!-- The following are not reliable values, and should not be used for modeling -->
      <mass value="0.068024"/>
      <origin xyz="0 0 0"/>
      <inertia ixx="0.0000039782" ixy="0.0" ixz="0.000000034641" iyy="0.000065045" iyz="0.0" izz="0.000067499"/>
    </inertial>
  </link>
  <!-- camera body, with origin at camera_link -->
  <joint name="T265_camera_link_joint" type="fixed">
    <origin rpy="1.57079632679 0 -1.57079632679" xyz="0 0 0"/>
    <parent link="T265_camera_pose_frame"/>
    <child link="T265_camera_link"/>
  </joint>
  <link name="T265_camera_link"/>
  <joint name="T265_camera_fisheye1_rgb_joint" type="fixed">
    <origin rpy="0 1.57079632679 1.57079632679" xyz="-0.0411 0.0 0.0"/>
    <parent link="T265_camera_link"/>
    <child link="T265_camera_fisheye1_rgb_frame"/>
  </joint>
  <link name="T265_camera_fisheye1_rgb_frame"/>
  <joint name="T265_camera_fisheye2_rgb_joint" type="fixed">
    <origin rpy="0 1.57079632679 1.57079632679" xyz="0.0229 0.0 0.0"/>
    <parent link="T265_camera_link"/>
    <child link="T265_camera_fisheye2_rgb_frame"/>
  </joint>
  <link name="T265_camera_fisheye2_rgb_frame"/>
  <joint name="T265_camera_fisheye1_optical_joint" type="fixed">
    <origin rpy="-1.57079632679 0 -1.57079632679" xyz="0 0 0"/>
    <parent link="T265_camera_fisheye1_rgb_frame"/>
    <child link="T265_camera_fisheye1_optical_frame"/>
  </joint>
  <link name="T265_camera_fisheye1_optical_frame"/>
  <joint name="T265_camera_fisheye2_optical_joint" type="fixed">
    <origin rpy="-1.57079632679 0 -1.57079632679" xyz="0 0 0"/>
    <parent link="T265_camera_fisheye2_rgb_frame"/>
    <child link="T265_camera_fisheye2_optical_frame"/>
  </joint>
  <link name="T265_camera_fisheye2_optical_frame"/>
  <!-- IMU joints and links -->
  <joint name="T265_camera_accel_joint" type="fixed">
    <origin rpy="0 3.14159265359 0" xyz="-0.0311 0 0.00655"/>
    <parent link="T265_camera_link"/>
    <child link="T265_camera_accel_frame"/>
  </joint>
  <link name="T265_camera_accel_frame"/>
  <joint name="T265_camera_accel_optical_joint" type="fixed">
    <origin rpy="0 3.14159265359 0" xyz="-0.0311 0 0.00655"/>
    <parent link="T265_camera_accel_frame"/>
    <child link="T265_camera_accel_optical_frame"/>
  </joint>
  <link name="T265_camera_accel_optical_frame"/>
  <joint name="T265_camera_gyro_joint" type="fixed">
    <origin rpy="0 3.14159265359 0" xyz="-0.0311 0 0.00655"/>
    <parent link="T265_camera_link"/>
    <child link="T265_camera_gyro_frame"/>
  </joint>
  <link name="T265_camera_gyro_frame"/>
  <joint name="T265_camera_gyro_optical_joint" type="fixed">
    <origin rpy="0 0 0" xyz="0 0 0"/>
    <parent link="T265_camera_gyro_frame"/>
    <child link="T265_camera_gyro_optical_frame"/>
  </joint>
  <link name="T265_camera_gyro_optical_frame"/>
  <!-- Load parameters to model's main link-->
  <gazebo reference="T265_camera_fisheye1_rgb_frame">
    <self_collide>0</self_collide>
    <enable_wind>0</enable_wind>
    <kinematic>0</kinematic>
    <!-- <gravity>1</gravity> -->
    <!--<mu>1</mu>-->
    <mu2>1</mu2>
    <fdir1>0 0 0</fdir1>
    <!--<slip1>0</slip1>
      <slip2>0</slip2>-->
    <kp>1e+13</kp>
    <kd>1</kd>
    <!--<max_vel>0.01</max_vel>
      <min_depth>0</min_depth>-->
    <sensor name="T265_camerafisheye1" type="wideanglecamera">
      <!-- <origin xyz="0 0 0" rpy="0 ${M_PI/2} 0"/> -->
      <update_rate>30</update_rate>
      <camera>
        <horizontal_fov>1.95</horizontal_fov>
        <image>
          <width>848</width>
          <height>800</height>
        </image>
        <clip>
          <near>0.2</near>
          <far>100</far>
        </clip>
        <lens>
          <!-- type element is mandatory -->
          <type>orthographic</type>
          <!-- if it is set to `true` your horizontal FOV will remain as defined -->
          <!-- othervise it depends on lens type and custom function, if there is one -->
          <scale_to_hfov>true</scale_to_hfov>
          <!-- clip everything that is outside of this angle -->
          <!-- eye balled value for these cameras-->
          <cutoff_angle>2.20</cutoff_angle>
          <!-- resolution of the cubemap texture, the highter it is - the sharper is your image -->
          <env_texture_size>1024</env_texture_size>
        </lens>
      </camera>
      <plugin filename="libgazebo_ros_camera.so" name="T265_camerafisheye1">
        <alwaysOn>true</alwaysOn>
        <updateRate>30</updateRate>
        <cameraName>T265/T265_camera/fisheye1</cameraName>
        <imageTopicName>image_raw</imageTopicName>
        <cameraInfoTopicName>camera_info</cameraInfoTopicName>
        <frameName>T265_camera_fisheye1_optical_frame</frameName>
        <hackBaseline>0.07</hackBaseline>
        <distortionK1>-0.00040996368625201285</distortionK1>
        <distortionK2>0.03653175011277199</distortionK2>
        <distortionK3>0.0</distortionK3>
        <distortionP1>-0.034823670983314514</distortionP1>
        <distortionP2>0.0052825710736215115</distortionP2>
        <Cx>416.22</Cx>
        <Cy>402.1</Cy>
        <CxPrime>416.22</CxPrime>
      </plugin>
    </sensor>
  </gazebo>
  <gazebo reference="T265_camera_fisheye2_rgb_frame">
    <self_collide>0</self_collide>
    <enable_wind>0</enable_wind>
    <kinematic>0</kinematic>
    <!-- <gravity>1</gravity> -->
    <!--<mu>1</mu>-->
    <mu2>1</mu2>
    <fdir1>0 0 0</fdir1>
    <!--<slip1>0</slip1>
      <slip2>0</slip2>-->
    <kp>1e+13</kp>
    <kd>1</kd>
    <!--<max_vel>0.01</max_vel>
      <min_depth>0</min_depth>-->
    <sensor name="T265_camerafisheye2" type="wideanglecamera">
      <!-- <origin xyz="0 0 0" rpy="0 ${M_PI/2} 0"/> -->
      <update_rate>30</update_rate>
      <camera>
        <horizontal_fov>2.84</horizontal_fov>
        <image>
          <width>848</width>
          <height>800</height>
        </image>
        <clip>
          <near>0.1</near>
          <far>100</far>
        </clip>
        <lens>
          <!-- type element is mandatory -->
          <type>orthographic</type>
          <!-- if it is set to `true` your horizontal FOV will remain as defined -->
          <!-- othervise it depends on lens type and custom function, if there is one -->
          <scale_to_hfov>true</scale_to_hfov>
          <!-- clip everything that is outside of this angle -->
          <!-- eye balled value for these cameras-->
          <cutoff_angle>2.20</cutoff_angle>
          <!-- resolution of the cubemap texture, the highter it is - the sharper is your image -->
          <env_texture_size>1024</env_texture_size>
        </lens>
      </camera>
      <always_on>1</always_on>
      <plugin filename="libgazebo_ros_camera.so" name="T265_camerafisheye2">
        <alwaysOn>true</alwaysOn>
        <updateRate>30</updateRate>
        <cameraName>T265/T265_camera/fisheye2</cameraName>
        <imageTopicName>image_raw</imageTopicName>
        <cameraInfoTopicName>camera_info</cameraInfoTopicName>
        <frameName>T265_camera_fisheye2_optical_frame</frameName>
        <hackBaseline>0.07</hackBaseline>
        <distortionK1>-0.00040996368625201285</distortionK1>
        <distortionK2>0.03653175011277199</distortionK2>
        <distortionK3>0.0</distortionK3>
        <distortionP1>-0.034823670983314514</distortionP1>
        <distortionP2>0.0052825710736215115</distortionP2>
      </plugin>
    </sensor>
    <sensor name="T265_cameraaccel" type="imu">
      <always_on>true</always_on>
      <update_rate>62.5</update_rate>
      <plugin filename="librealsense_gazebo_accel_sensor.so" name="T265/T265_camera_accel_plugin">
        <topicName>T265/T265_camera/accel/sample</topicName>
        <bodyName>T265_camera_pose_frame</bodyName>
        <updateRateHZ>62.5</updateRateHZ>
        <gaussianNoise>0.1</gaussianNoise>
        <xyzOffset>0 0 0</xyzOffset>
        <rpyOffset>0 0 0</rpyOffset>
        <frameName>T265_camera_accel_optical_frame</frameName>
        <initialOrientationAsReference>false</initialOrientationAsReference>
      </plugin>
      <pose>0 0 0 0 0 0</pose>
    </sensor>
    <sensor name="T265_cameragyro" type="imu">
      <always_on>true</always_on>
      <update_rate>200</update_rate>
      <topic>T265/T265_camera/gyro/sample</topic>
      <plugin filename="librealsense_gazebo_gyro_sensor.so" name="T265/T265_camera_gyro_plugin">
        <topicName>T265/T265_camera/gyro/sample</topicName>
        <bodyName>T265_camera_pose_frame</bodyName>
        <updateRateHZ>200</updateRateHZ>
        <gaussianNoise>0.1</gaussianNoise>
        <xyzOffset>0 0 0</xyzOffset>
        <rpyOffset>0 0 0</rpyOffset>
        <frameName>T265_camera_gyro_optical_frame</frameName>
        <initialOrientationAsReference>false</initialOrientationAsReference>
      </plugin>
    </sensor>
  </gazebo>
  <gazebo>
    <!-- Odom from SLAM -->
    <plugin filename="libgazebo_ros_p3d.so" name="p3d_base_controller">
      <alwaysOn>true</alwaysOn>
      <updateRate>262</updateRate>
      <bodyName>T265_camera_pose_frame</bodyName>
      <topicName>T265/T265_camera/odom/sample</topicName>
      <gaussianNoise>0.01</gaussianNoise>
      <frameName>world</frameName>
      <xyzOffsets>0.0 0.0 0.25</xyzOffsets>
      <rpyOffsets>0.0 0.0 0.0</rpyOffsets>
    </plugin>
  </gazebo>
  <!-- /macro legs -->
  <link name="hip1_1">
    <inertial>
      <origin xyz="0.0003595855 0.033338818 -0.059190309"/>
      <mass value="2.3349153"/>
      <!-- org: 2 -->
      <inertia ixx="0.0068405374" ixy="1.8572633e-05" ixz="-4.8325972e-05" iyy="0.0026261815" iyz="0.0001564273" izz="0.0066933354"/>
    </inertial>
    <visual>
      <origin rpy="0.0 0.0 0.0" xyz="0.0 0.0 0.0"/>
      <geometry>
        <mesh filename="package://centauro_urdf/meshes/v2/hip-yaw.stl" scale="0.001 -0.001 0.001"/>
      </geometry>
      <material name="dark_grey"/>
    </visual>
    <collision>
      <origin rpy="0.0 0.0 0.0" xyz="0.0 0.0 0.0"/>
      <geometry>
        <mesh filename="package://centauro_urdf/meshes/v2/collision/hip-yaw.stl" scale="0.001 -0.001 0.001"/>
      </geometry>
    </collision>
  </link>
  <link name="hip2_1">
    <inertial>
      <origin xyz="-4.6285952e-06 -0.2214019 0.03316685"/>
      <mass value="3.4572118"/>
      <!-- org: 4.5 -->
      <inertia ixx="0.050469853" ixy="-7.7849387e-06" ixz="-9.220581e-06" iyy="0.008181597" iyz="0.0059796848" izz="0.048213809"/>
    </inertial>
    <visual>
      <origin rpy="0.0 0.0 0.0" xyz="0.0 0.0 0.0"/>
      <geometry>
        <mesh filename="package://centauro_urdf/meshes/v2/hip-pitch.stl" scale="0.001 0.001 -0.001"/>
      </geometry>
    </visual>
    <collision>
      <origin rpy="0.0 0.0 0.0" xyz="0.0 0.0 0.0"/>
      <geometry>
        <mesh filename="package://centauro_urdf/meshes/v2/collision/hip-pitch.stl" scale="0.001 0.001 -0.001"/>
      </geometry>
    </collision>
  </link>
  <link name="knee_1">
    <inertial>
      <origin xyz="0.00012063381 0.14620674 0.029740711"/>
      <mass value="2.1199315"/>
      <!-- org: 3.5, foot un modeled-->
      <inertia ixx="0.018426403" ixy="2.8226636e-05" ixz="-2.9204348e-05" iyy="0.0047685615" iyz="-0.002640771" izz="0.017793722"/>
    </inertial>
    <visual>
      <origin rpy="0.0 0.0 0.0" xyz="0.0 0.0 0.0"/>
      <geometry>
        <mesh filename="package://centauro_urdf/meshes/v2/knee.stl" scale="0.001 0.001 -0.001"/>
      </geometry>
      <material name="dark_grey"/>
    </visual>
    <collision>
      <origin rpy="0.0 0.0 0.0" xyz="0.0 0.0 0.0"/>
      <geometry>
        <mesh filename="package://centauro_urdf/meshes/v2/collision/knee.stl" scale="0.001 0.001 -0.001"/>
      </geometry>
    </collision>
  </link>
  <link name="ankle1_1">
    <inertial>
      <origin xyz="0.00012360094 -0.06274712 -0.0049068453"/>
      <mass value="1.4023368"/>
      <!-- org: 3.5, foot un modeled-->
      <inertia ixx="0.0049928829" ixy="5.7623557e-06" ixz="1.9606394e-05" iyy="0.0017621464" iyz="0.00045315091" izz="0.0048706328"/>
    </inertial>
    <visual>
      <origin rpy="0.0 0.0 0.0" xyz="0.0 0.0 0.0"/>
      <geometry>
        <mesh filename="package://centauro_urdf/meshes/v2/ankle-pitch.stl" scale="0.001 0.001 -0.001"/>
      </geometry>
    </visual>
    <collision>
      <origin rpy="0.0 0.0 0.0" xyz="0.0 0.0 0.0"/>
      <geometry>
        <mesh filename="package://centauro_urdf/meshes/v2/collision/ankle-pitch.stl" scale="0.001 0.001 -0.001"/>
      </geometry>
    </collision>
  </link>
  <link name="ankle2_1">
    <inertial>
      <origin xyz="0.0018496706 -0.00051322371 -0.06730924"/>
      <mass value="1.7656714"/>
      <!-- org: 3.5, foot un modeled-->
      <inertia ixx="0.0073976286" ixy="9.7557687e-07" ixz="-0.0002295255" iyy="0.0054434358" iyz="3.6337754e-05" izz="0.0043055053"/>
    </inertial>
    <visual>
      <origin rpy="0.0 0.0 0.0" xyz="0.0 0.0 0.0"/>
      <geometry>
        <mesh filename="package://centauro_urdf/meshes/v2/ankle-yaw.stl" scale="0.001 -0.001 0.001"/>
      </geometry>
      <material name="dark_grey"/>
    </visual>
    <collision>
      <origin rpy="0.0 0.0 0.0" xyz="0.0 0.0 0.0"/>
      <geometry>
        <mesh filename="package://centauro_urdf/meshes/v2/collision/ankle-yaw.stl" scale="0.001 -0.001 0.001"/>
      </geometry>
    </collision>
  </link>
  <link name="wheel_1">
    <inertial>
      <origin xyz="0.0 0.0 -0.0031155904"/>
      <mass value="1.11164"/>
      <inertia ixx="0.0028174054" ixy="0.0" ixz="-0.0" iyy="0.0028175648" iyz="-0.0" izz="0.0041817162"/>
    </inertial>
    <visual>
      <origin rpy="0.0 0.0 0.0" xyz="0.0 0.0 0.0"/>
      <geometry>
        <mesh filename="package://centauro_urdf/meshes/v2/wheel.stl" scale="0.001 0.001 -0.001"/>
      </geometry>
      <material name="black"/>
    </visual>
    <collision>
      <origin rpy="0 0 0" xyz="0 0 0"/>
      <geometry>
        <cylinder length="0.11" radius="0.078"/>
      </geometry>
    </collision>
  </link>
  <!-- *****************************-->
  <link name="contact_1"/>
  <joint name="contact_joint_1" type="fixed">
    <parent link="ankle2_1"/>
    <child link="contact_1"/>
    <origin rpy="0 0 0" xyz="0 0 -0.176"/>
  </joint>
  <!-- ******************************** -->
  <joint name="hip_yaw_1" type="revolute">
    <parent link="pelvis"/>
    <child link="hip1_1"/>
    <origin rpy="0.0 0.0 0.0" xyz="0.25 0.125 -0.0566"/>
    <axis xyz="0 0 -1"/>
    <limit effort="304" lower="-2.03" upper="2.51" velocity="8.8"/>
    <!-- 200 Nm, 1 rad/s-->
  </joint>
  <joint name="hip_pitch_1" type="revolute">
    <parent link="hip1_1"/>
    <child link="hip2_1"/>
    <origin rpy="1.57079632679 0.0 0.0" xyz="0.0 0.1146 -0.0625"/>
    <axis xyz="0 0 -1"/>
    <limit effort="304" lower="-2.0226" upper="2.02748" velocity="8.8"/>
    <!-- 200 Nm, 1 rad/s-->
  </joint>
  <joint name="knee_pitch_1" type="revolute">
    <parent link="hip2_1"/>
    <child link="knee_1"/>
    <origin rpy="3.14159265359 0.0 0.0" xyz="0.0 -0.3 0.1182"/>
    <axis xyz="0 0 -1"/>
    <limit effort="304" lower="-2.4056" upper="2.3994" velocity="8.8"/>
    <!-- 200 Nm, 1 rad/s-->
  </joint>
  <joint name="ankle_pitch_1" type="revolute">
    <parent link="knee_1"/>
    <child link="ankle1_1"/>
    <origin rpy="3.14159265359 0.0 0.0" xyz="0.0 0.2 0.10015"/>
    <axis xyz="0 0 -1"/>
    <limit effort="147" lower="-2.4056" upper="2.3184" velocity="8.1"/>
    <!-- 98 Nm, 1 rad/s-->
  </joint>
  <joint name="ankle_yaw_1" type="revolute">
    <parent link="ankle1_1"/>
    <child link="ankle2_1"/>
    <origin rpy="-1.57079632679 0.0 0.0" xyz="0.0 -0.139 -0.00085"/>
    <axis xyz="0 0 -1"/>
    <limit effort="35" lower="-2.5626" upper="2.5384" velocity="20.0"/>
    <!-- 23 Nm, 1 rad/s-->
  </joint>
  <joint name="j_wheel_1" type="continuous">
    <parent link="ankle2_1"/>
    <child link="wheel_1"/>
    <origin rpy="1.57079632679 0.0 0.0" xyz="0.0 -0.0 -0.09835"/>
    <axis xyz="0 0 -1"/>
    <limit effort="35" velocity="20.0"/>
    <!-- 23 Nm, 1 rad/s-->
  </joint>
  <link name="hip1_2">
    <inertial>
      <origin xyz="0.0003595855 -0.033338818 -0.059190309"/>
      <mass value="2.3349153"/>
      <!-- org: 2 -->
      <inertia ixx="0.0068405374" ixy="-1.8572633e-05" ixz="-4.8325972e-05" iyy="0.0026261815" iyz="-0.0001564273" izz="0.0066933354"/>
    </inertial>
    <visual>
      <origin rpy="0.0 0.0 0.0" xyz="0.0 0.0 0.0"/>
      <geometry>
        <mesh filename="package://centauro_urdf/meshes/v2/hip-yaw.stl" scale="0.001 0.001 0.001"/>
      </geometry>
      <material name="dark_grey"/>
    </visual>
    <collision>
      <origin rpy="0.0 0.0 0.0" xyz="0.0 0.0 0.0"/>
      <geometry>
        <mesh filename="package://centauro_urdf/meshes/v2/collision/hip-yaw.stl" scale="0.001 0.001 0.001"/>
      </geometry>
    </collision>
  </link>
  <link name="hip2_2">
    <inertial>
      <origin xyz="-4.6285952e-06 -0.2214019 -0.03316685"/>
      <mass value="3.4572118"/>
      <!-- org: 4.5 -->
      <inertia ixx="0.050469853" ixy="-7.7849387e-06" ixz="9.220581e-06" iyy="0.008181597" iyz="-0.0059796848" izz="0.048213809"/>
    </inertial>
    <visual>
      <origin rpy="0.0 0.0 0.0" xyz="0.0 0.0 0.0"/>
      <geometry>
        <mesh filename="package://centauro_urdf/meshes/v2/hip-pitch.stl" scale="0.001 0.001 0.001"/>
      </geometry>
    </visual>
    <collision>
      <origin rpy="0.0 0.0 0.0" xyz="0.0 0.0 0.0"/>
      <geometry>
        <mesh filename="package://centauro_urdf/meshes/v2/collision/hip-pitch.stl" scale="0.001 0.001 0.001"/>
      </geometry>
    </collision>
  </link>
  <link name="knee_2">
    <inertial>
      <origin xyz="0.00012063381 0.14620674 -0.029740711"/>
      <mass value="2.1199315"/>
      <!-- org: 3.5, foot un modeled-->
      <inertia ixx="0.018426403" ixy="2.8226636e-05" ixz="2.9204348e-05" iyy="0.0047685615" iyz="0.002640771" izz="0.017793722"/>
    </inertial>
    <visual>
      <origin rpy="0.0 0.0 0.0" xyz="0.0 0.0 0.0"/>
      <geometry>
        <mesh filename="package://centauro_urdf/meshes/v2/knee.stl" scale="0.001 0.001 0.001"/>
      </geometry>
      <material name="dark_grey"/>
    </visual>
    <collision>
      <origin rpy="0.0 0.0 0.0" xyz="0.0 0.0 0.0"/>
      <geometry>
        <mesh filename="package://centauro_urdf/meshes/v2/collision/knee.stl" scale="0.001 0.001 0.001"/>
      </geometry>
    </collision>
  </link>
  <link name="ankle1_2">
    <inertial>
      <origin xyz="0.00012360094 -0.06274712 0.0049068453"/>
      <mass value="1.4023368"/>
      <!-- org: 3.5, foot un modeled-->
      <inertia ixx="0.0049928829" ixy="5.7623557e-06" ixz="-1.9606394e-05" iyy="0.0017621464" iyz="-0.00045315091" izz="0.0048706328"/>
    </inertial>
    <visual>
      <origin rpy="0.0 0.0 0.0" xyz="0.0 0.0 0.0"/>
      <geometry>
        <mesh filename="package://centauro_urdf/meshes/v2/ankle-pitch.stl" scale="0.001 0.001 0.001"/>
      </geometry>
    </visual>
    <collision>
      <origin rpy="0.0 0.0 0.0" xyz="0.0 0.0 0.0"/>
      <geometry>
        <mesh filename="package://centauro_urdf/meshes/v2/collision/ankle-pitch.stl" scale="0.001 0.001 0.001"/>
      </geometry>
    </collision>
  </link>
  <link name="ankle2_2">
    <inertial>
      <origin xyz="0.0018496706 0.00051322371 -0.06730924"/>
      <mass value="1.7656714"/>
      <!-- org: 3.5, foot un modeled-->
      <inertia ixx="0.0073976286" ixy="-9.7557687e-07" ixz="-0.0002295255" iyy="0.0054434358" iyz="-3.6337754e-05" izz="0.0043055053"/>
    </inertial>
    <visual>
      <origin rpy="0.0 0.0 0.0" xyz="0.0 0.0 0.0"/>
      <geometry>
        <mesh filename="package://centauro_urdf/meshes/v2/ankle-yaw.stl" scale="0.001 0.001 0.001"/>
      </geometry>
      <material name="dark_grey"/>
    </visual>
    <collision>
      <origin rpy="0.0 0.0 0.0" xyz="0.0 0.0 0.0"/>
      <geometry>
        <mesh filename="package://centauro_urdf/meshes/v2/collision/ankle-yaw.stl" scale="0.001 0.001 0.001"/>
      </geometry>
    </collision>
  </link>
  <link name="wheel_2">
    <inertial>
      <origin xyz="0.0 0.0 0.0031155904"/>
      <mass value="1.11164"/>
      <inertia ixx="0.0028174054" ixy="0.0" ixz="0.0" iyy="0.0028175648" iyz="0.0" izz="0.0041817162"/>
    </inertial>
    <visual>
      <origin rpy="0.0 0.0 0.0" xyz="0.0 0.0 0.0"/>
      <geometry>
        <mesh filename="package://centauro_urdf/meshes/v2/wheel.stl" scale="0.001 0.001 0.001"/>
      </geometry>
      <material name="black"/>
    </visual>
    <collision>
      <origin rpy="0 0 0" xyz="0 0 0"/>
      <geometry>
        <cylinder length="0.11" radius="0.078"/>
      </geometry>
    </collision>
  </link>
  <!-- *****************************-->
  <link name="contact_2"/>
  <joint name="contact_joint_2" type="fixed">
    <parent link="ankle2_2"/>
    <child link="contact_2"/>
    <origin rpy="0 0 0" xyz="0 0 -0.176"/>
  </joint>
  <!-- ******************************** -->
  <joint name="hip_yaw_2" type="revolute">
    <parent link="pelvis"/>
    <child link="hip1_2"/>
    <origin rpy="0.0 0.0 0.0" xyz="0.25 -0.125 -0.0566"/>
    <axis xyz="0 0 -1"/>
    <limit effort="304" lower="-2.51" upper="2.03" velocity="8.8"/>
    <!-- 200 Nm, 1 rad/s-->
  </joint>
  <joint name="hip_pitch_2" type="revolute">
    <parent link="hip1_2"/>
    <child link="hip2_2"/>
    <origin rpy="1.57079632679 0.0 0.0" xyz="0.0 -0.1146 -0.0625"/>
    <axis xyz="0 0 1"/>
    <limit effort="304" lower="-2.0156" upper="2.0354" velocity="8.8"/>
    <!-- 200 Nm, 1 rad/s-->
  </joint>
  <joint name="knee_pitch_2" type="revolute">
    <parent link="hip2_2"/>
    <child link="knee_2"/>
    <origin rpy="3.14159265359 0.0 0.0" xyz="0.0 -0.3 -0.1182"/>
    <axis xyz="0 0 1"/>
    <limit effort="304" lower="-2.4006" upper="2.4034" velocity="8.8"/>
    <!-- 200 Nm, 1 rad/s-->
  </joint>
  <joint name="ankle_pitch_2" type="revolute">
    <parent link="knee_2"/>
    <child link="ankle1_2"/>
    <origin rpy="3.14159265359 0.0 0.0" xyz="0.0 0.2 -0.10015"/>
    <axis xyz="0 0 1"/>
    <limit effort="147" lower="-2.3266" upper="2.3914" velocity="8.1"/>
    <!-- 98 Nm, 1 rad/s-->
  </joint>
  <joint name="ankle_yaw_2" type="revolute">
    <parent link="ankle1_2"/>
    <child link="ankle2_2"/>
    <origin rpy="-1.57079632679 0.0 0.0" xyz="0.0 -0.139 0.00085"/>
    <axis xyz="0 0 -1"/>
    <limit effort="35" lower="-2.5546" upper="2.5484" velocity="20.0"/>
    <!-- 23 Nm, 1 rad/s-->
  </joint>
  <joint name="j_wheel_2" type="continuous">
    <parent link="ankle2_2"/>
    <child link="wheel_2"/>
    <origin rpy="1.57079632679 0.0 0.0" xyz="0.0 0.0 -0.09835"/>
    <axis xyz="0 0 1"/>
    <limit effort="35" velocity="20.0"/>
    <!-- 23 Nm, 1 rad/s-->
  </joint>
  <link name="hip1_3">
    <inertial>
      <origin xyz="0.0003595855 0.033338818 -0.059190309"/>
      <mass value="2.3349153"/>
      <!-- org: 2 -->
      <inertia ixx="0.0068405374" ixy="1.8572633e-05" ixz="-4.8325972e-05" iyy="0.0026261815" iyz="0.0001564273" izz="0.0066933354"/>
    </inertial>
    <visual>
      <origin rpy="0.0 0.0 0.0" xyz="0.0 0.0 0.0"/>
      <geometry>
        <mesh filename="package://centauro_urdf/meshes/v2/hip-yaw.stl" scale="0.001 -0.001 0.001"/>
      </geometry>
      <material name="dark_grey"/>
    </visual>
    <collision>
      <origin rpy="0.0 0.0 0.0" xyz="0.0 0.0 0.0"/>
      <geometry>
        <mesh filename="package://centauro_urdf/meshes/v2/collision/hip-yaw.stl" scale="0.001 -0.001 0.001"/>
      </geometry>
    </collision>
  </link>
  <link name="hip2_3">
    <inertial>
      <origin xyz="-4.6285952e-06 -0.2214019 0.03316685"/>
      <mass value="3.4572118"/>
      <!-- org: 4.5 -->
      <inertia ixx="0.050469853" ixy="-7.7849387e-06" ixz="-9.220581e-06" iyy="0.008181597" iyz="0.0059796848" izz="0.048213809"/>
    </inertial>
    <visual>
      <origin rpy="0.0 0.0 0.0" xyz="0.0 0.0 0.0"/>
      <geometry>
        <mesh filename="package://centauro_urdf/meshes/v2/hip-pitch.stl" scale="0.001 0.001 -0.001"/>
      </geometry>
    </visual>
    <collision>
      <origin rpy="0.0 0.0 0.0" xyz="0.0 0.0 0.0"/>
      <geometry>
        <mesh filename="package://centauro_urdf/meshes/v2/collision/hip-pitch.stl" scale="0.001 0.001 -0.001"/>
      </geometry>
    </collision>
  </link>
  <link name="knee_3">
    <inertial>
      <origin xyz="0.00012063381 0.14620674 0.029740711"/>
      <mass value="2.1199315"/>
      <!-- org: 3.5, foot un modeled-->
      <inertia ixx="0.018426403" ixy="2.8226636e-05" ixz="-2.9204348e-05" iyy="0.0047685615" iyz="-0.002640771" izz="0.017793722"/>
    </inertial>
    <visual>
      <origin rpy="0.0 0.0 0.0" xyz="0.0 0.0 0.0"/>
      <geometry>
        <mesh filename="package://centauro_urdf/meshes/v2/knee.stl" scale="0.001 0.001 -0.001"/>
      </geometry>
      <material name="dark_grey"/>
    </visual>
    <collision>
      <origin rpy="0.0 0.0 0.0" xyz="0.0 0.0 0.0"/>
      <geometry>
        <mesh filename="package://centauro_urdf/meshes/v2/collision/knee.stl" scale="0.001 0.001 -0.001"/>
      </geometry>
    </collision>
  </link>
  <link name="ankle1_3">
    <inertial>
      <origin xyz="0.00012360094 -0.06274712 -0.0049068453"/>
      <mass value="1.4023368"/>
      <!-- org: 3.5, foot un modeled-->
      <inertia ixx="0.0049928829" ixy="5.7623557e-06" ixz="1.9606394e-05" iyy="0.0017621464" iyz="0.00045315091" izz="0.0048706328"/>
    </inertial>
    <visual>
      <origin rpy="0.0 0.0 0.0" xyz="0.0 0.0 0.0"/>
      <geometry>
        <mesh filename="package://centauro_urdf/meshes/v2/ankle-pitch.stl" scale="0.001 0.001 -0.001"/>
      </geometry>
    </visual>
    <collision>
      <origin rpy="0.0 0.0 0.0" xyz="0.0 0.0 0.0"/>
      <geometry>
        <mesh filename="package://centauro_urdf/meshes/v2/collision/ankle-pitch.stl" scale="0.001 0.001 -0.001"/>
      </geometry>
    </collision>
  </link>
  <link name="ankle2_3">
    <inertial>
      <origin xyz="0.0018496706 -0.00051322371 -0.06730924"/>
      <mass value="1.7656714"/>
      <!-- org: 3.5, foot un modeled-->
      <inertia ixx="0.0073976286" ixy="9.7557687e-07" ixz="-0.0002295255" iyy="0.0054434358" iyz="3.6337754e-05" izz="0.0043055053"/>
    </inertial>
    <visual>
      <origin rpy="0.0 0.0 0.0" xyz="0.0 0.0 0.0"/>
      <geometry>
        <mesh filename="package://centauro_urdf/meshes/v2/ankle-yaw.stl" scale="0.001 -0.001 0.001"/>
      </geometry>
      <material name="dark_grey"/>
    </visual>
    <collision>
      <origin rpy="0.0 0.0 0.0" xyz="0.0 0.0 0.0"/>
      <geometry>
        <mesh filename="package://centauro_urdf/meshes/v2/collision/ankle-yaw.stl" scale="0.001 -0.001 0.001"/>
      </geometry>
    </collision>
  </link>
  <link name="wheel_3">
    <inertial>
      <origin xyz="0.0 0.0 -0.0031155904"/>
      <mass value="1.11164"/>
      <inertia ixx="0.0028174054" ixy="0.0" ixz="-0.0" iyy="0.0028175648" iyz="-0.0" izz="0.0041817162"/>
    </inertial>
    <visual>
      <origin rpy="0.0 0.0 0.0" xyz="0.0 0.0 0.0"/>
      <geometry>
        <mesh filename="package://centauro_urdf/meshes/v2/wheel.stl" scale="0.001 0.001 -0.001"/>
      </geometry>
      <material name="black"/>
    </visual>
    <collision>
      <origin rpy="0 0 0" xyz="0 0 0"/>
      <geometry>
        <cylinder length="0.11" radius="0.078"/>
      </geometry>
    </collision>
  </link>
  <!-- *****************************-->
  <link name="contact_3"/>
  <joint name="contact_joint_3" type="fixed">
    <parent link="ankle2_3"/>
    <child link="contact_3"/>
    <origin rpy="0 0 0" xyz="0 0 -0.176"/>
  </joint>
  <!-- ******************************** -->
  <joint name="hip_yaw_3" type="revolute">
    <parent link="pelvis"/>
    <child link="hip1_3"/>
    <origin rpy="0.0 0.0 0.0" xyz="-0.25 0.125 -0.0566"/>
    <axis xyz="0 0 -1"/>
    <limit effort="304" lower="-2.51" upper="2.03" velocity="8.8"/>
    <!-- 200 Nm, 1 rad/s-->
  </joint>
  <joint name="hip_pitch_3" type="revolute">
    <parent link="hip1_3"/>
    <child link="hip2_3"/>
    <origin rpy="1.57079632679 0.0 0.0" xyz="0.0 0.1146 -0.0625"/>
    <axis xyz="0 0 -1"/>
    <limit effort="304" lower="-2.0126" upper="2.0384" velocity="8.8"/>
    <!-- 200 Nm, 1 rad/s-->
  </joint>
  <joint name="knee_pitch_3" type="revolute">
    <parent link="hip2_3"/>
    <child link="knee_3"/>
    <origin rpy="3.14159265359 0.0 0.0" xyz="0.0 -0.3 0.1182"/>
    <axis xyz="0 0 -1"/>
    <limit effort="304" lower="-2.4056" upper="2.4064" velocity="8.8"/>
    <!-- 200 Nm, 1 rad/s-->
  </joint>
  <joint name="ankle_pitch_3" type="revolute">
    <parent link="knee_3"/>
    <child link="ankle1_3"/>
    <origin rpy="3.14159265359 0.0 0.0" xyz="0.0 0.2 0.10015"/>
    <axis xyz="0 0 -1"/>
    <limit effort="147" lower="-2.4696" upper="2.4464" velocity="8.1"/>
    <!-- 98 Nm, 1 rad/s-->
  </joint>
  <joint name="ankle_yaw_3" type="revolute">
    <parent link="ankle1_3"/>
    <child link="ankle2_3"/>
    <origin rpy="-1.57079632679 0.0 0.0" xyz="0.0 -0.139 -0.00085"/>
    <axis xyz="0 0 -1"/>
    <limit effort="35" lower="-2.5606" upper="2.5454" velocity="20.0"/>
    <!-- 23 Nm, 1 rad/s-->
  </joint>
  <joint name="j_wheel_3" type="continuous">
    <parent link="ankle2_3"/>
    <child link="wheel_3"/>
    <origin rpy="1.57079632679 0.0 0.0" xyz="0.0 -0.0 -0.09835"/>
    <axis xyz="0 0 -1"/>
    <limit effort="35" velocity="20.0"/>
    <!-- 23 Nm, 1 rad/s-->
  </joint>
  <link name="hip1_4">
    <inertial>
      <origin xyz="0.0003595855 -0.033338818 -0.059190309"/>
      <mass value="2.3349153"/>
      <!-- org: 2 -->
      <inertia ixx="0.0068405374" ixy="-1.8572633e-05" ixz="-4.8325972e-05" iyy="0.0026261815" iyz="-0.0001564273" izz="0.0066933354"/>
    </inertial>
    <visual>
      <origin rpy="0.0 0.0 0.0" xyz="0.0 0.0 0.0"/>
      <geometry>
        <mesh filename="package://centauro_urdf/meshes/v2/hip-yaw.stl" scale="0.001 0.001 0.001"/>
      </geometry>
      <material name="dark_grey"/>
    </visual>
    <collision>
      <origin rpy="0.0 0.0 0.0" xyz="0.0 0.0 0.0"/>
      <geometry>
        <mesh filename="package://centauro_urdf/meshes/v2/collision/hip-yaw.stl" scale="0.001 0.001 0.001"/>
      </geometry>
    </collision>
  </link>
  <link name="hip2_4">
    <inertial>
      <origin xyz="-4.6285952e-06 -0.2214019 -0.03316685"/>
      <mass value="3.4572118"/>
      <!-- org: 4.5 -->
      <inertia ixx="0.050469853" ixy="-7.7849387e-06" ixz="9.220581e-06" iyy="0.008181597" iyz="-0.0059796848" izz="0.048213809"/>
    </inertial>
    <visual>
      <origin rpy="0.0 0.0 0.0" xyz="0.0 0.0 0.0"/>
      <geometry>
        <mesh filename="package://centauro_urdf/meshes/v2/hip-pitch.stl" scale="0.001 0.001 0.001"/>
      </geometry>
    </visual>
    <collision>
      <origin rpy="0.0 0.0 0.0" xyz="0.0 0.0 0.0"/>
      <geometry>
        <mesh filename="package://centauro_urdf/meshes/v2/collision/hip-pitch.stl" scale="0.001 0.001 0.001"/>
      </geometry>
    </collision>
  </link>
  <link name="knee_4">
    <inertial>
      <origin xyz="0.00012063381 0.14620674 -0.029740711"/>
      <mass value="2.1199315"/>
      <!-- org: 3.5, foot un modeled-->
      <inertia ixx="0.018426403" ixy="2.8226636e-05" ixz="2.9204348e-05" iyy="0.0047685615" iyz="0.002640771" izz="0.017793722"/>
    </inertial>
    <visual>
      <origin rpy="0.0 0.0 0.0" xyz="0.0 0.0 0.0"/>
      <geometry>
        <mesh filename="package://centauro_urdf/meshes/v2/knee.stl" scale="0.001 0.001 0.001"/>
      </geometry>
      <material name="dark_grey"/>
    </visual>
    <collision>
      <origin rpy="0.0 0.0 0.0" xyz="0.0 0.0 0.0"/>
      <geometry>
        <mesh filename="package://centauro_urdf/meshes/v2/collision/knee.stl" scale="0.001 0.001 0.001"/>
      </geometry>
    </collision>
  </link>
  <link name="ankle1_4">
    <inertial>
      <origin xyz="0.00012360094 -0.06274712 0.0049068453"/>
      <mass value="1.4023368"/>
      <!-- org: 3.5, foot un modeled-->
      <inertia ixx="0.0049928829" ixy="5.7623557e-06" ixz="-1.9606394e-05" iyy="0.0017621464" iyz="-0.00045315091" izz="0.0048706328"/>
    </inertial>
    <visual>
      <origin rpy="0.0 0.0 0.0" xyz="0.0 0.0 0.0"/>
      <geometry>
        <mesh filename="package://centauro_urdf/meshes/v2/ankle-pitch.stl" scale="0.001 0.001 0.001"/>
      </geometry>
    </visual>
    <collision>
      <origin rpy="0.0 0.0 0.0" xyz="0.0 0.0 0.0"/>
      <geometry>
        <mesh filename="package://centauro_urdf/meshes/v2/collision/ankle-pitch.stl" scale="0.001 0.001 0.001"/>
      </geometry>
    </collision>
  </link>
  <link name="ankle2_4">
    <inertial>
      <origin xyz="0.0018496706 0.00051322371 -0.06730924"/>
      <mass value="1.7656714"/>
      <!-- org: 3.5, foot un modeled-->
      <inertia ixx="0.0073976286" ixy="-9.7557687e-07" ixz="-0.0002295255" iyy="0.0054434358" iyz="-3.6337754e-05" izz="0.0043055053"/>
    </inertial>
    <visual>
      <origin rpy="0.0 0.0 0.0" xyz="0.0 0.0 0.0"/>
      <geometry>
        <mesh filename="package://centauro_urdf/meshes/v2/ankle-yaw.stl" scale="0.001 0.001 0.001"/>
      </geometry>
      <material name="dark_grey"/>
    </visual>
    <collision>
      <origin rpy="0.0 0.0 0.0" xyz="0.0 0.0 0.0"/>
      <geometry>
        <mesh filename="package://centauro_urdf/meshes/v2/collision/ankle-yaw.stl" scale="0.001 0.001 0.001"/>
      </geometry>
    </collision>
  </link>
  <link name="wheel_4">
    <inertial>
      <origin xyz="0.0 0.0 0.0031155904"/>
      <mass value="1.11164"/>
      <inertia ixx="0.0028174054" ixy="0.0" ixz="0.0" iyy="0.0028175648" iyz="0.0" izz="0.0041817162"/>
    </inertial>
    <visual>
      <origin rpy="0.0 0.0 0.0" xyz="0.0 0.0 0.0"/>
      <geometry>
        <mesh filename="package://centauro_urdf/meshes/v2/wheel.stl" scale="0.001 0.001 0.001"/>
      </geometry>
      <material name="black"/>
    </visual>
    <collision>
      <origin rpy="0 0 0" xyz="0 0 0"/>
      <geometry>
        <cylinder length="0.11" radius="0.078"/>
      </geometry>
    </collision>
  </link>
  <!-- *****************************-->
  <link name="contact_4"/>
  <joint name="contact_joint_4" type="fixed">
    <parent link="ankle2_4"/>
    <child link="contact_4"/>
    <origin rpy="0 0 0" xyz="0 0 -0.176"/>
  </joint>
  <!-- ******************************** -->
  <joint name="hip_yaw_4" type="revolute">
    <parent link="pelvis"/>
    <child link="hip1_4"/>
    <origin rpy="0.0 0.0 0.0" xyz="-0.25 -0.125 -0.0566"/>
    <axis xyz="0 0 -1"/>
    <limit effort="304" lower="-2.03" upper="2.51" velocity="8.8"/>
    <!-- 200 Nm, 1 rad/s-->
  </joint>
  <joint name="hip_pitch_4" type="revolute">
    <parent link="hip1_4"/>
    <child link="hip2_4"/>
    <origin rpy="1.57079632679 0.0 0.0" xyz="0.0 -0.1146 -0.0625"/>
    <axis xyz="0 0 1"/>
    <limit effort="304" lower="-2.0326" upper="2.0524" velocity="8.8"/>
    <!-- 200 Nm, 1 rad/s-->
  </joint>
  <joint name="knee_pitch_4" type="revolute">
    <parent link="hip2_4"/>
    <child link="knee_4"/>
    <origin rpy="3.14159265359 0.0 0.0" xyz="0.0 -0.3 -0.1182"/>
    <axis xyz="0 0 1"/>
    <limit effort="304" lower="-2.4176" upper="2.3884" velocity="8.8"/>
    <!-- 200 Nm, 1 rad/s-->
  </joint>
  <joint name="ankle_pitch_4" type="revolute">
    <parent link="knee_4"/>
    <child link="ankle1_4"/>
    <origin rpy="3.14159265359 0.0 0.0" xyz="0.0 0.2 -0.10015"/>
    <axis xyz="0 0 1"/>
    <limit effort="147" lower="-2.3426" upper="2.3934" velocity="8.1"/>
    <!-- 98 Nm, 1 rad/s-->
  </joint>
  <joint name="ankle_yaw_4" type="revolute">
    <parent link="ankle1_4"/>
    <child link="ankle2_4"/>
    <origin rpy="-1.57079632679 0.0 0.0" xyz="0.0 -0.139 0.00085"/>
    <axis xyz="0 0 -1"/>
    <limit effort="35" lower="-2.6046" upper="2.5514" velocity="20.0"/>
    <!-- 23 Nm, 1 rad/s-->
  </joint>
  <joint name="j_wheel_4" type="continuous">
    <parent link="ankle2_4"/>
    <child link="wheel_4"/>
    <origin rpy="1.57079632679 0.0 0.0" xyz="0.0 0.0 -0.09835"/>
    <axis xyz="0 0 1"/>
    <limit effort="35" velocity="20.0"/>
    <!-- 23 Nm, 1 rad/s-->
  </joint>
  <!-- ************ Control frames ************ -->
  <!--xacro:include filename="$(find pholus_urdf)/urdf/control_frames.urdf.xacro"/-->
  <link name="world"/>
  <joint name="reference" type="floating">
    <parent link="world"/>
    <child link="pelvis"/>
  </joint>
  <!-- car frame virtual joints -->
  <joint name="car_frame_tx" type="prismatic">
    <parent link="pelvis"/>
    <origin xyz="0.0 0.0 0.0"/>
    <child link="car_frame_intermediate_1"/>
    <axis xyz="1 0 0"/>
    <limit effort="1000" lower="-1e9" upper="1e9" velocity="10.0"/>
  </joint>
  <link name="car_frame_intermediate_1">
    <inertial>
      <mass value="0.0"/>
      <inertia ixx="0.0" ixy="0.0" ixz="0.0" iyy="0.0" iyz="0.0" izz="0.0"/>
    </inertial>
  </link>
  <joint name="car_frame_ty" type="prismatic">
    <parent link="car_frame_intermediate_1"/>
    <origin xyz="0.0 0.0 0.0"/>
    <child link="car_frame_intermediate_2"/>
    <axis xyz="0 1 0"/>
    <limit effort="1000" lower="-1e9" upper="1e9" velocity="10.0"/>
  </joint>
  <link name="car_frame_intermediate_2">
    <inertial>
      <mass value="0.0"/>
      <inertia ixx="0.0" ixy="0.0" ixz="0.0" iyy="0.0" iyz="0.0" izz="0.0"/>
    </inertial>
  </link>
  <joint name="car_frame_tz" type="prismatic">
    <parent link="car_frame_intermediate_2"/>
    <origin xyz="0.0 0.0 0.0"/>
    <child link="car_frame_intermediate_3"/>
    <axis xyz="0 0 1"/>
    <limit effort="1000" lower="-1e9" upper="1e9" velocity="10.0"/>
  </joint>
  <link name="car_frame_intermediate_3">
    <inertial>
      <mass value="0.0"/>
      <inertia ixx="0.0" ixy="0.0" ixz="0.0" iyy="0.0" iyz="0.0" izz="0.0"/>
    </inertial>
  </link>
  <joint name="car_frame_rx" type="revolute">
    <parent link="car_frame_intermediate_3"/>
    <origin xyz="0.0 0.0 0.0"/>
    <child link="car_frame_intermediate_4"/>
    <axis xyz="1 0 0"/>
    <limit effort="1000" lower="-1e9" upper="1e9" velocity="10.0"/>
  </joint>
  <link name="car_frame_intermediate_4">
    <inertial>
      <mass value="0.0"/>
      <inertia ixx="0.0" ixy="0.0" ixz="0.0" iyy="0.0" iyz="0.0" izz="0.0"/>
    </inertial>
  </link>
  <joint name="car_frame_ry" type="revolute">
    <parent link="car_frame_intermediate_4"/>
    <origin xyz="0.0 0.0 0.0"/>
    <child link="car_frame_intermediate_5"/>
    <axis xyz="0 1 0"/>
    <limit effort="1000" lower="-1e9" upper="1e9" velocity="10.0"/>
  </joint>
  <link name="car_frame_intermediate_5">
    <inertial>
      <mass value="0.0"/>
      <inertia ixx="0.0" ixy="0.0" ixz="0.0" iyy="0.0" iyz="0.0" izz="0.0"/>
    </inertial>
  </link>
  <joint name="car_frame_rz" type="revolute">
    <parent link="car_frame_intermediate_5"/>
    <origin xyz="0.0 0.0 0.0"/>
    <child link="car_frame"/>
    <axis xyz="0 0 1"/>
    <limit effort="1000" lower="-1e9" upper="1e9" velocity="10.0"/>
  </joint>
  <link name="car_frame">
    <inertial>
      <mass value="0.0"/>
      <inertia ixx="0.0" ixy="0.0" ixz="0.0" iyy="0.0" iyz="0.0" izz="0.0"/>
    </inertial>
  </link>
  <gazebo reference="wheel_1">
    <material>Gazebo/Residential </material>
    <collision>
      <surface>
        <friction>
          <ode>
            <mu>0.5</mu>
            <mu2>0.5</mu2>
          </ode>
          <bullet>
            <friction>0.5</friction>
            <friction2>0.5</friction2>
          </bullet>
        </friction>
        <contact>
          <ode>
            <kp>2100000</kp>
            <kd>1</kd>
            <max_vel>100</max_vel>
          </ode>
          <bullet>
            <soft_cfm>0.007</soft_cfm>
            <soft_erp>0.25</soft_erp>
            <kp>1000000</kp>
            <kd>5</kd>
          </bullet>
        </contact>
      </surface>
    </collision>
  </gazebo>
  <gazebo reference="wheel_2">
    <material>Gazebo/Residential</material>
    <collision>
      <surface>
        <friction>
          <ode>
            <mu>0.5</mu>
            <mu2>0.5</mu2>
          </ode>
          <bullet>
            <friction>0.5</friction>
            <friction2>0.5</friction2>
          </bullet>
        </friction>
        <contact>
          <ode>
            <kp>2100000</kp>
            <kd>1</kd>
            <max_vel>100</max_vel>
          </ode>
          <bullet>
            <soft_cfm>0.007</soft_cfm>
            <soft_erp>0.25</soft_erp>
            <kp>1000000</kp>
            <kd>5</kd>
          </bullet>
        </contact>
      </surface>
    </collision>
  </gazebo>
  <gazebo reference="wheel_3">
    <material>Gazebo/Residential </material>
    <collision>
      <surface>
        <friction>
          <ode>
            <mu>0.5</mu>
            <mu2>0.5</mu2>
          </ode>
          <bullet>
            <friction>0.5</friction>
            <friction2>0.5</friction2>
          </bullet>
        </friction>
        <contact>
          <ode>
            <kp>2100000</kp>
            <kd>1</kd>
            <max_vel>100</max_vel>
          </ode>
          <bullet>
            <soft_cfm>0.007</soft_cfm>
            <soft_erp>0.25</soft_erp>
            <kp>1000000</kp>
            <kd>5</kd>
          </bullet>
        </contact>
      </surface>
    </collision>
  </gazebo>
  <gazebo reference="wheel_4">
    <material>Gazebo/Residential</material>
    <collision>
      <surface>
        <friction>
          <ode>
            <mu>0.5</mu>
            <mu2>0.5</mu2>
          </ode>
          <bullet>
            <friction>0.5</friction>
            <friction2>0.5</friction2>
          </bullet>
        </friction>
        <contact>
          <ode>
            <kp>2100000</kp>
            <kd>1</kd>
            <max_vel>100</max_vel>
          </ode>
          <bullet>
            <soft_cfm>0.007</soft_cfm>
            <soft_erp>0.25</soft_erp>
            <kp>1000000</kp>
            <kd>5</kd>
          </bullet>
        </contact>
      </surface>
    </collision>
  </gazebo>
  <gazebo reference="hip_yaw_1">
    <implicitSpringDamper>1</implicitSpringDamper>
    <provideFeedback>true</provideFeedback>
  </gazebo>
  <gazebo reference="hip_pitch_1">
    <implicitSpringDamper>1</implicitSpringDamper>
    <provideFeedback>true</provideFeedback>
  </gazebo>
  <gazebo reference="knee_pitch_1">
    <implicitSpringDamper>1</implicitSpringDamper>
    <provideFeedback>true</provideFeedback>
  </gazebo>
  <gazebo reference="ankle_pitch_1">
    <implicitSpringDamper>1</implicitSpringDamper>
    <provideFeedback>true</provideFeedback>
  </gazebo>
  <gazebo reference="ankle_yaw_1">
    <implicitSpringDamper>1</implicitSpringDamper>
    <provideFeedback>true</provideFeedback>
  </gazebo>
  <gazebo reference="j_wheel_1">
    <implicitSpringDamper>1</implicitSpringDamper>
    <provideFeedback>true</provideFeedback>
  </gazebo>
  <gazebo reference="hip_yaw_2">
    <implicitSpringDamper>1</implicitSpringDamper>
    <provideFeedback>true</provideFeedback>
  </gazebo>
  <gazebo reference="hip_pitch_2">
    <implicitSpringDamper>1</implicitSpringDamper>
    <provideFeedback>true</provideFeedback>
  </gazebo>
  <gazebo reference="knee_pitch_2">
    <implicitSpringDamper>1</implicitSpringDamper>
    <provideFeedback>true</provideFeedback>
  </gazebo>
  <gazebo reference="ankle_pitch_2">
    <implicitSpringDamper>1</implicitSpringDamper>
    <provideFeedback>true</provideFeedback>
  </gazebo>
  <gazebo reference="ankle_yaw_2">
    <implicitSpringDamper>1</implicitSpringDamper>
    <provideFeedback>true</provideFeedback>
  </gazebo>
  <gazebo reference="j_wheel_2">
    <implicitSpringDamper>1</implicitSpringDamper>
    <provideFeedback>true</provideFeedback>
  </gazebo>
  <gazebo reference="hip_yaw_3">
    <implicitSpringDamper>1</implicitSpringDamper>
    <provideFeedback>true</provideFeedback>
  </gazebo>
  <gazebo reference="hip_pitch_3">
    <implicitSpringDamper>1</implicitSpringDamper>
    <provideFeedback>true</provideFeedback>
  </gazebo>
  <gazebo reference="knee_pitch_3">
    <implicitSpringDamper>1</implicitSpringDamper>
    <provideFeedback>true</provideFeedback>
  </gazebo>
  <gazebo reference="ankle_pitch_3">
    <implicitSpringDamper>1</implicitSpringDamper>
    <provideFeedback>true</provideFeedback>
  </gazebo>
  <gazebo reference="ankle_yaw_3">
    <implicitSpringDamper>1</implicitSpringDamper>
    <provideFeedback>true</provideFeedback>
  </gazebo>
  <gazebo reference="j_wheel_3">
    <implicitSpringDamper>1</implicitSpringDamper>
    <provideFeedback>true</provideFeedback>
  </gazebo>
  <gazebo reference="hip_yaw_4">
    <implicitSpringDamper>1</implicitSpringDamper>
    <provideFeedback>true</provideFeedback>
  </gazebo>
  <gazebo reference="hip_pitch_4">
    <implicitSpringDamper>1</implicitSpringDamper>
    <provideFeedback>true</provideFeedback>
  </gazebo>
  <gazebo reference="knee_pitch_4">
    <implicitSpringDamper>1</implicitSpringDamper>
    <provideFeedback>true</provideFeedback>
  </gazebo>
  <gazebo reference="ankle_pitch_4">
    <implicitSpringDamper>1</implicitSpringDamper>
    <provideFeedback>true</provideFeedback>
  </gazebo>
  <gazebo reference="ankle_yaw_4">
    <implicitSpringDamper>1</implicitSpringDamper>
    <provideFeedback>true</provideFeedback>
  </gazebo>
  <gazebo reference="j_wheel_4">
    <implicitSpringDamper>1</implicitSpringDamper>
    <provideFeedback>true</provideFeedback>
  </gazebo>
  <gazebo reference="torso_yaw">
    <implicitSpringDamper>1</implicitSpringDamper>
    <provideFeedback>true</provideFeedback>
  </gazebo>
  <gazebo reference="j_arm1_1">
    <implicitSpringDamper>1</implicitSpringDamper>
    <provideFeedback>true</provideFeedback>
  </gazebo>
  <gazebo reference="j_arm1_2">
    <implicitSpringDamper>1</implicitSpringDamper>
    <provideFeedback>true</provideFeedback>
  </gazebo>
  <gazebo reference="j_arm1_3">
    <implicitSpringDamper>1</implicitSpringDamper>
    <provideFeedback>true</provideFeedback>
  </gazebo>
  <gazebo reference="j_arm1_4">
    <implicitSpringDamper>1</implicitSpringDamper>
    <provideFeedback>true</provideFeedback>
  </gazebo>
  <gazebo reference="j_arm1_5">
    <implicitSpringDamper>1</implicitSpringDamper>
    <provideFeedback>true</provideFeedback>
  </gazebo>
  <gazebo reference="j_arm1_6">
    <implicitSpringDamper>1</implicitSpringDamper>
    <provideFeedback>true</provideFeedback>
  </gazebo>
  <gazebo reference="j_arm1_7">
    <implicitSpringDamper>1</implicitSpringDamper>
    <provideFeedback>true</provideFeedback>
  </gazebo>
  <gazebo reference="j_arm2_1">
    <implicitSpringDamper>1</implicitSpringDamper>
    <provideFeedback>true</provideFeedback>
  </gazebo>
  <gazebo reference="j_arm2_2">
    <implicitSpringDamper>1</implicitSpringDamper>
    <provideFeedback>true</provideFeedback>
  </gazebo>
  <gazebo reference="j_arm2_3">
    <implicitSpringDamper>1</implicitSpringDamper>
    <provideFeedback>true</provideFeedback>
  </gazebo>
  <gazebo reference="j_arm2_4">
    <implicitSpringDamper>1</implicitSpringDamper>
    <provideFeedback>true</provideFeedback>
  </gazebo>
  <gazebo reference="j_arm2_5">
    <implicitSpringDamper>1</implicitSpringDamper>
    <provideFeedback>true</provideFeedback>
  </gazebo>
  <gazebo reference="j_arm2_6">
    <implicitSpringDamper>1</implicitSpringDamper>
    <provideFeedback>true</provideFeedback>
  </gazebo>
  <gazebo reference="j_arm2_7">
    <implicitSpringDamper>1</implicitSpringDamper>
    <provideFeedback>true</provideFeedback>
  </gazebo>
  <!--xacro:include filename="$(find cogimon_urdf)/urdf/gazebo/force_torque.gazebo.xacro" /-->
  <gazebo reference="imu_link">
    <sensor name="imu_link" type="imu">
      <always_on>1</always_on>
      <update_rate>500</update_rate>
      <visualize>true</visualize>
      <topic>__default_topic__</topic>
      <imu>
        <!--
            <noise>
            <type>gaussian</type>
            <rate>
                <mean>0.0</mean>
                <stddev>2e-4</stddev>
                <bias_mean>0.0000075</bias_mean>
                <bias_stddev>0.0000008</bias_stddev>
            </rate>
            <accel>
                <mean>0.0</mean>
                <stddev>1.7e-2</stddev>
                <bias_mean>0.1</bias_mean>
                <bias_stddev>0.001</bias_stddev>
            </accel>
            </noise>
            -->
      </imu>
    </sensor>
  </gazebo>
  <gazebo>
    <plugin filename="libxbot2_gz_link_state_sensor.so" name="xbot2_link_state_sensor">
      <links>
        <link name="pelvis"/>
        <link name="wheel_1"/>
      </links>
    </plugin>
    <plugin filename="libxbot2_gz_ft_server.so" name="xbot2_ft_driver"/>
    <plugin filename="libxbot2_gz_imu_server.so" name="xbot2_imu_driver"/>
    <plugin filename="libxbot2_gz_joint_server.so" name="xbot2_joint_driver">
      <pid>
        <gain d="5" name="lowpwr_mot" p="50"/>
        <gain d="5" name="small_mot" p="250"/>
        <gain d="10" name="medium_mot" p="1000"/>
        <gain d="10" name="big_mot" p="3000"/>
        <gain d="10" name="wheel_mot" p="250"/>
        <pid name="neck_yaw" profile="lowpwr_mot"/>
        <pid name="neck_pitch" profile="lowpwr_mot"/>
        <pid d="20" name="neck_velodyne" p="0"/>
        <pid name="j_arm1_1" profile="medium_mot"/>
        <pid name="j_arm1_2" profile="medium_mot"/>
        <pid name="j_arm1_3" profile="medium_mot"/>
        <pid name="j_arm1_4" profile="medium_mot"/>
        <pid name="j_arm1_5" profile="small_mot"/>
        <pid name="j_arm1_6" profile="small_mot"/>
        <pid name="j_arm1_7" profile="small_mot"/>
        <pid name="j_arm2_1" profile="medium_mot"/>
        <pid name="j_arm2_2" profile="medium_mot"/>
        <pid name="j_arm2_3" profile="medium_mot"/>
        <pid name="j_arm2_4" profile="medium_mot"/>
        <pid name="j_arm2_5" profile="small_mot"/>
        <pid name="j_arm2_6" profile="small_mot"/>
        <pid name="j_arm2_7" profile="small_mot"/>
        <pid name="torso_yaw" profile="big_mot"/>
        <pid name="hip_yaw_1" profile="big_mot"/>
        <pid name="hip_pitch_1" profile="big_mot"/>
        <pid name="knee_pitch_1" profile="big_mot"/>
        <pid name="ankle_pitch_1" profile="medium_mot"/>
        <pid name="ankle_yaw_1" profile="small_mot"/>
        <pid name="j_wheel_1" profile="wheel_mot"/>
        <pid name="hip_yaw_2" profile="big_mot"/>
        <pid name="hip_pitch_2" profile="big_mot"/>
        <pid name="knee_pitch_2" profile="big_mot"/>
        <pid name="ankle_pitch_2" profile="medium_mot"/>
        <pid name="ankle_yaw_2" profile="small_mot"/>
        <pid name="j_wheel_2" profile="wheel_mot"/>
        <pid name="hip_yaw_3" profile="big_mot"/>
        <pid name="hip_pitch_3" profile="big_mot"/>
        <pid name="knee_pitch_3" profile="big_mot"/>
        <pid name="ankle_pitch_3" profile="medium_mot"/>
        <pid name="ankle_yaw_3" profile="small_mot"/>
        <pid name="j_wheel_3" profile="wheel_mot"/>
        <pid name="hip_yaw_4" profile="big_mot"/>
        <pid name="hip_pitch_4" profile="big_mot"/>
        <pid name="knee_pitch_4" profile="big_mot"/>
        <pid name="ankle_pitch_4" profile="medium_mot"/>
        <pid name="ankle_yaw_4" profile="small_mot"/>
        <pid name="j_wheel_4" profile="wheel_mot"/>
      </pid>
    </plugin>
  </gazebo>
  <gazebo reference="pelvis">
    <material>Gazebo/LightBlueLaser</material>
  </gazebo>
  <gazebo reference="hip1_1">
    <material>Gazebo/LightBlueLaser</material>
  </gazebo>
  <gazebo reference="hip2_1">
    <material>Gazebo/BlackTransparent</material>
  </gazebo>
  <gazebo reference="knee_1">
    <material>Gazebo/LightBlueLaser</material>
  </gazebo>
  <gazebo reference="ankle1_1">
    <material>Gazebo/LightBlueLaser</material>
  </gazebo>
  <gazebo reference="ankle2_1">
    <material>Gazebo/LightBlueLaser</material>
  </gazebo>
  <gazebo reference="wheel_1">
    <material>Gazebo/BlackTransparent</material>
  </gazebo>
  <gazebo reference="hip1_2">
    <material>Gazebo/LightBlueLaser</material>
  </gazebo>
  <gazebo reference="hip2_2">
    <material>Gazebo/BlackTransparent</material>
  </gazebo>
  <gazebo reference="knee_2">
    <material>Gazebo/LightBlueLaser</material>
  </gazebo>
  <gazebo reference="ankle1_2">
    <material>Gazebo/LightBlueLaser</material>
  </gazebo>
  <gazebo reference="ankle2_2">
    <material>Gazebo/LightBlueLaser</material>
  </gazebo>
  <gazebo reference="wheel_2">
    <material>Gazebo/BlackTransparent</material>
  </gazebo>
  <gazebo reference="hip1_3">
    <material>Gazebo/LightBlueLaser</material>
  </gazebo>
  <gazebo reference="hip2_3">
    <material>Gazebo/BlackTransparent</material>
  </gazebo>
  <gazebo reference="knee_3">
    <material>Gazebo/LightBlueLaser</material>
  </gazebo>
  <gazebo reference="ankle1_3">
    <material>Gazebo/LightBlueLaser</material>
  </gazebo>
  <gazebo reference="ankle2_3">
    <material>Gazebo/LightBlueLaser</material>
  </gazebo>
  <gazebo reference="wheel_3">
    <material>Gazebo/BlackTransparent</material>
  </gazebo>
  <gazebo reference="hip1_4">
    <material>Gazebo/LightBlueLaser</material>
  </gazebo>
  <gazebo reference="hip2_4">
    <material>Gazebo/BlackTransparent</material>
  </gazebo>
  <gazebo reference="knee_4">
    <material>Gazebo/LightBlueLaser</material>
  </gazebo>
  <gazebo reference="ankle1_4">
    <material>Gazebo/LightBlueLaser</material>
  </gazebo>
  <gazebo reference="ankle2_4">
    <material>Gazebo/LightBlueLaser</material>
  </gazebo>
  <gazebo reference="wheel_4">
    <material>Gazebo/BlackTransparent</material>
  </gazebo>
  <gazebo reference="torso_2">
    <material>Gazebo/BlackTransparent</material>
  </gazebo>
  <gazebo reference="arm1_1">
    <material>Gazebo/BlackTransparent</material>
  </gazebo>
  <gazebo reference="arm1_2">
    <material>Gazebo/LightBlueLaser</material>
  </gazebo>
  <gazebo reference="arm1_3">
    <material>Gazebo/LightBlueLaser</material>
  </gazebo>
  <gazebo reference="arm1_4">
    <material>Gazebo/LightBlueLaser</material>
  </gazebo>
  <gazebo reference="arm1_5">
    <material>Gazebo/BlackTransparent</material>
  </gazebo>
  <gazebo reference="arm1_6">
    <material>Gazebo/LightBlueLaser</material>
  </gazebo>
  <gazebo reference="arm1_7">
    <material>Gazebo/LightBlueLaser</material>
  </gazebo>
  <gazebo reference="arm2_1">
    <material>Gazebo/BlackTransparent</material>
  </gazebo>
  <gazebo reference="arm2_2">
    <material>Gazebo/LightBlueLaser</material>
  </gazebo>
  <gazebo reference="arm2_3">
    <material>Gazebo/LightBlueLaser</material>
  </gazebo>
  <gazebo reference="arm2_4">
    <material>Gazebo/LightBlueLaser</material>
  </gazebo>
  <gazebo reference="arm2_5">
    <material>Gazebo/BlackTransparent</material>
  </gazebo>
  <gazebo reference="arm2_6">
    <material>Gazebo/LightBlueLaser</material>
  </gazebo>
  <gazebo reference="arm2_7">
    <material>Gazebo/LightBlueLaser</material>
  </gazebo>
  <gazebo reference="ball1">
    <material>Gazebo/BlackTransparent</material>
  </gazebo>
  <gazebo reference="ball2">
    <material>Gazebo/BlackTransparent</material>
  </gazebo>
  <origin rpy="0 0 0" xyz="0.0 0.0 1.2"/>
</robot>
